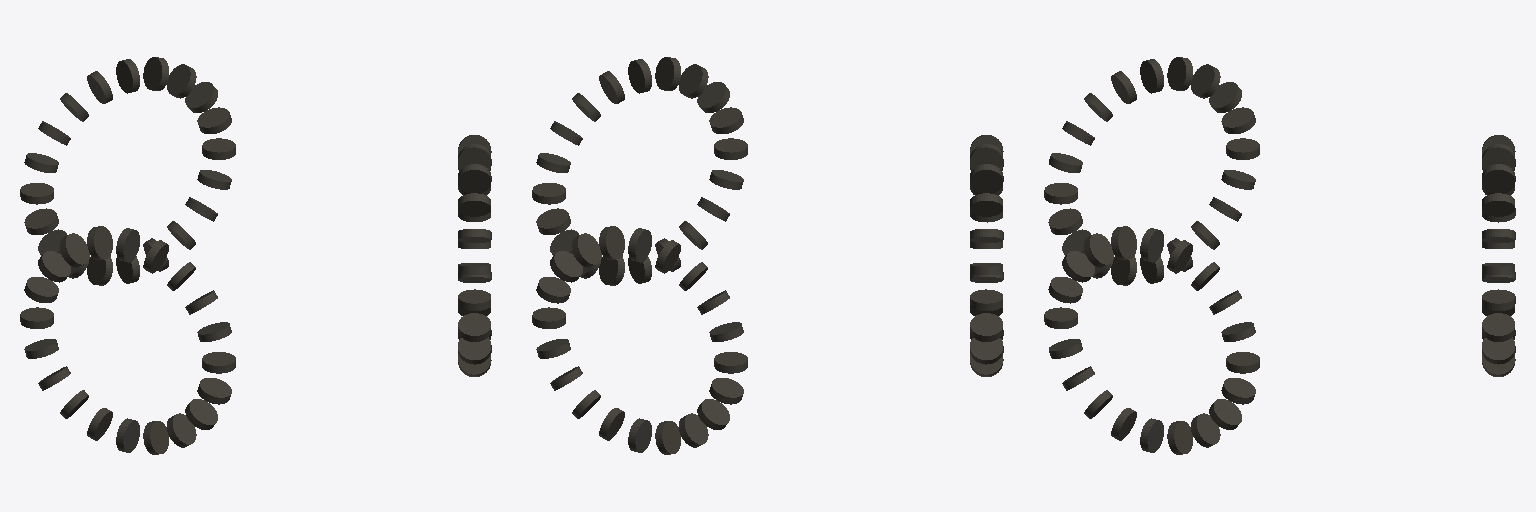
--- Render facts (derived) ---
Views: 3 orthographic renders of the robot side by side, from view 1: azimuth 30°, elevation 25°; view 2: azimuth 150°, elevation 25°; view 3: azimuth 270°, elevation 25°.
Model onshape with 65 links and 64 joints (63 revolute, 1 fixed), rooted at body, posed every joint at zero.
Links seen in each view (by area): view 1: passivewheel, passivewheel_16, passivewheel_24, passivewheel_50, passivewheel_35, passivewheel_34, passivewheel_25, passivewheel_49, passivewheel_23, passivewheel_51, passivewheel_33, passivewheel_36 (+18 smaller); view 2: passivewheel_23, passivewheel_28, passivewheel_20, passivewheel_50, passivewheel_59, passivewheel_60, passivewheel_49, passivewheel_19, passivewheel, passivewheel_51, passivewheel_41, passivewheel_8 (+18 smaller); view 3: passivewheel_51, passivewheel_46, passivewheel_20, passivewheel_24, passivewheel_9, passivewheel_10, passivewheel_19, passivewheel_25, passivewheel, passivewheel_23, passivewheel_11, passivewheel_8 (+18 smaller).
Link boxes in pixels (x1=…): passivewheel: x1=458, y1=164, x2=491, y2=193; passivewheel_16: x1=458, y1=313, x2=490, y2=341; passivewheel_24: x1=60, y1=233, x2=89, y2=267; passivewheel_50: x1=167, y1=64, x2=196, y2=98; passivewheel_35: x1=185, y1=399, x2=217, y2=429; passivewheel_34: x1=167, y1=413, x2=196, y2=447; passivewheel_25: x1=38, y1=251, x2=70, y2=282; passivewheel_49: x1=185, y1=82, x2=217, y2=112; passivewheel_23: x1=87, y1=226, x2=112, y2=259; passivewheel_51: x1=143, y1=57, x2=168, y2=90; passivewheel_33: x1=143, y1=421, x2=168, y2=454; passivewheel_36: x1=197, y1=378, x2=231, y2=404; passivewheel_23: x1=970, y1=164, x2=1003, y2=193; passivewheel_28: x1=970, y1=313, x2=1002, y2=341; passivewheel_20: x1=679, y1=64, x2=708, y2=98; passivewheel_50: x1=572, y1=233, x2=601, y2=267; passivewheel_59: x1=697, y1=399, x2=729, y2=429; passivewheel_60: x1=679, y1=413, x2=708, y2=447; passivewheel_49: x1=550, y1=251, x2=582, y2=282; passivewheel_19: x1=697, y1=82, x2=729, y2=112; passivewheel: x1=655, y1=57, x2=680, y2=90; passivewheel_51: x1=599, y1=226, x2=624, y2=259; passivewheel_41: x1=655, y1=421, x2=680, y2=454; passivewheel_8: x1=536, y1=208, x2=570, y2=234; passivewheel_51: x1=1482, y1=164, x2=1515, y2=193; passivewheel_46: x1=1482, y1=313, x2=1514, y2=341; passivewheel_20: x1=1084, y1=233, x2=1113, y2=267; passivewheel_24: x1=1191, y1=64, x2=1220, y2=98; passivewheel_9: x1=1209, y1=399, x2=1241, y2=429; passivewheel_10: x1=1191, y1=413, x2=1220, y2=447; passivewheel_19: x1=1062, y1=251, x2=1094, y2=282; passivewheel_25: x1=1209, y1=82, x2=1241, y2=112; passivewheel: x1=1111, y1=226, x2=1136, y2=259; passivewheel_23: x1=1167, y1=57, x2=1192, y2=90; passivewheel_11: x1=1167, y1=421, x2=1192, y2=454; passivewheel_8: x1=1221, y1=378, x2=1255, y2=404.
Size in the robot's own frame: 0.1924 by 0.1682 by 0.087 metres.
Geometry: only primitive shapes (box / cylinder / sphere) drawn; not drawn: 8 mesh visuals (reference in a form the renderer does not follow).

robot.urdf — onshape:
<robot name="onshape">
<link name="body">
<collision>
<origin xyz="-1.7347234759768070944e-18 -6.9388939039072283776e-18 2.6020852139652106416e-18" rpy="0 -0 2.0943951023931957067" />
<geometry>
<mesh filename="package:///motor.stl"/>
</geometry>
</collision>
<visual>
<origin xyz="-1.7347234759768070944e-18 -6.9388939039072283776e-18 2.6020852139652106416e-18" rpy="0 -0 2.0943951023931957067" />
<geometry>
<mesh filename="package:///motor.stl"/>
</geometry>
<material name="motor_material">
<color rgba="0.64705882352941179736 0.64705882352941179736 0.64705882352941179736 1.0"/>
</material>
</visual>
<collision>
<origin xyz="0 6.9388939039072283776e-18 0" rpy="0 -0 -2.0943951023931952626" />
<geometry>
<mesh filename="package:///motor.stl"/>
</geometry>
</collision>
<visual>
<origin xyz="0 6.9388939039072283776e-18 0" rpy="0 -0 -2.0943951023931952626" />
<geometry>
<mesh filename="package:///motor.stl"/>
</geometry>
<material name="motor_material">
<color rgba="0.64705882352941179736 0.64705882352941179736 0.64705882352941179736 1.0"/>
</material>
</visual>
<collision>
<origin xyz="0 0 0" rpy="0 -0 0" />
<geometry>
<mesh filename="package:///motor.stl"/>
</geometry>
</collision>
<visual>
<origin xyz="0 0 0" rpy="0 -0 0" />
<geometry>
<mesh filename="package:///motor.stl"/>
</geometry>
<material name="motor_material">
<color rgba="0.64705882352941179736 0.64705882352941179736 0.64705882352941179736 1.0"/>
</material>
</visual>
<collision>
<origin xyz="0 0 0" rpy="0 -0 0" />
<geometry>
<mesh filename="package:///plate.stl"/>
</geometry>
</collision>
<visual>
<origin xyz="0 0 0" rpy="0 -0 0" />
<geometry>
<mesh filename="package:///plate.stl"/>
</geometry>
<material name="plate_material">
<color rgba="0.68235294117647060652 0.33333333333333331483 0.73725490196078435901 1.0"/>
</material>
</visual>
<collision>
<origin xyz="0 0 0.022999999999999999611" rpy="0 -0 0" />
<geometry>
<mesh filename="package:///plate.stl"/>
</geometry>
</collision>
<visual>
<origin xyz="0 0 0.022999999999999999611" rpy="0 -0 0" />
<geometry>
<mesh filename="package:///plate.stl"/>
</geometry>
<material name="plate_material">
<color rgba="0.68235294117647060652 0.33333333333333331483 0.73725490196078435901 1.0"/>
</material>
</visual>
<inertial>
<origin xyz="0.00041313742631781947808 0.00023852500429690035727 0.0129603621972746684" rpy="0 0 0"/>
<mass value="0.55184045573988327327" />
<inertia ixx="0.00061573183967726478893" ixy="-4.5433878869427543235e-06"  ixz="-9.0368619367301650838e-09" iyy="0.00062097809211638342608" iyz="-5.2174346717752650079e-09" izz="0.0011894065910678657157" />
</inertial>
</link>

<link name="base">
<inertial>
<origin xyz="0 0 0" rpy="0 0 0" />
<mass value="1e-9" />
<inertia ixx="0" ixy="0" ixz="0" iyy="0" iyz="0" izz="0" />
</inertial>
</link>
<joint name="body_frame" type="fixed">
<origin xyz="0.0041869852016127150768 0.002417357033244084321 0.014499999999999997266" rpy="0 -0 0.52359877559829937077" />
<parent link="body" />
<child link="base" />
<axis xyz="0 0 0"/>
</joint>

<link name="wheel">
<collision>
<origin xyz="-1.0820518625265934609e-17 0.013000000000000001138 0.075000000000000011102" rpy="1.570796326794896558 1.0471975511965980754 0" />
<geometry>
<mesh filename="package:///wheel.stl"/>
</geometry>
</collision>
<visual>
<origin xyz="-1.0820518625265934609e-17 0.013000000000000001138 0.075000000000000011102" rpy="1.570796326794896558 1.0471975511965980754 0" />
<geometry>
<mesh filename="package:///wheel.stl"/>
</geometry>
<material name="wheel_material">
<color rgba="0.94117647058823528106 0.87450980392156862919 0.67843137254901964006 1.0"/>
</material>
</visual>
<inertial>
<origin xyz="-9.2850727106963404367e-11 -1.4381200032914653875e-09 -0.0025000000554400020336" rpy="0 0 0"/>
<mass value="0.01924908488748922411" />
<inertia ixx="6.8765144932724304568e-06" ixy="4.74141453805302909e-13"  ixz="-1.4288918118653907291e-14" iyy="6.8765142522306696936e-06" iyz="2.2762036673241546206e-14" izz="1.3673643547259725222e-05" />
</inertial>
</link>

<link name="passivewheel">
<!-- Shapes for passivewheel -->
<collision>
<origin xyz="-9.7144514654701199309e-20 1.3877787807814456755e-17 0.0019999999999999939701" rpy="3.141592653589793116 -2.7755575615628913511e-17 -2.7755575615628913511e-17" />
<geometry>
<cylinder length="0.0030000000000000000625" radius="0.0060000000000000001249" />
</geometry>
</collision>
<!-- Shapes for passivewheel -->
<visual>
<origin xyz="-9.7144514654701199309e-20 1.3877787807814456755e-17 0.0019999999999999939701" rpy="3.141592653589793116 -2.7755575615628913511e-17 -2.7755575615628913511e-17" />
<geometry>
<cylinder length="0.0030000000000000000625" radius="0.0060000000000000001249" />
</geometry>
<material name="passivewheel_material">
<color rgba="0.30196078431372547213 0.29019607843137257275 0.26274509803921569651 1.0"/>
</material>
</visual>
<inertial>
<origin xyz="-8.4000511047209577878e-20 1.3489002723506598987e-17 0.0019999999999999935364" rpy="0 0 0"/>
<mass value="0.0028590609658248017193" />
<inertia ixx="2.7747274432609138953e-08" ixy="-5.3024232598138370053e-71"  ixz="3.1490841707672236165e-24" iyy="2.7747274432609138953e-08" iyz="-2.1375722681956916097e-41" izz="4.8977394258054644615e-08" />
</inertial>
</link>

<joint name="w1_1_passive" type="revolute">
<origin xyz="-0.013490250321650828005 -0.035046585372318354856 -0.0025000000000000160982" rpy="1.570796326794896558 1.3942429024899487544 1.2566370614359179125" />
<parent link="wheel" />
<child link="passivewheel" />
<axis xyz="0 0 1"/>
<limit effort="1" velocity="20" />
<joint_properties friction="0.0"/>
</joint>

<link name="passivewheel_2">
<!-- Shapes for passivewheel -->
<collision>
<origin xyz="-1.3877787807814456755e-17 0 -0.0020000000000000026437" rpy="3.141592653589793116 5.5511151231257913303e-17 7.3955709864469856757e-32" />
<geometry>
<cylinder length="0.0030000000000000000625" radius="0.0060000000000000001249" />
</geometry>
</collision>
<!-- Shapes for passivewheel -->
<visual>
<origin xyz="-1.3877787807814456755e-17 0 -0.0020000000000000026437" rpy="3.141592653589793116 5.5511151231257913303e-17 7.3955709864469856757e-32" />
<geometry>
<cylinder length="0.0030000000000000000625" radius="0.0060000000000000001249" />
</geometry>
<material name="passivewheel_material">
<color rgba="0.30196078431372547213 0.29019607843137257275 0.26274509803921569651 1.0"/>
</material>
</visual>
<inertial>
<origin xyz="-1.3864643804206964592e-17 -3.8878508430785584243e-19 -0.0020000000000000030774" rpy="0 0 0"/>
<mass value="0.0028590609658248017193" />
<inertia ixx="2.7747274432609138953e-08" ixy="2.7360925032904852604e-39"  ixz="-1.5402831472837860559e-24" iyy="2.7747274432609138953e-08" iyz="-1.1391273354965187936e-55" izz="4.8977394258054644615e-08" />
</inertial>
</link>

<joint name="w1_2_passive" type="revolute">
<origin xyz="-0.0020000000000000039448 -0.037499999999999991673 -0.0025000000000000160982" rpy="3.1415926535897926719 1.570796326794896336 0" />
<parent link="wheel" />
<child link="passivewheel_2" />
<axis xyz="0 0 1"/>
<limit effort="1" velocity="20" />
<joint_properties friction="0.0"/>
</joint>

<link name="passivewheel_3">
<!-- Shapes for passivewheel -->
<collision>
<origin xyz="1.3877787807814456755e-17 0 0.0019999999999999931027" rpy="0 -1.3877787807814456755e-17 0" />
<geometry>
<cylinder length="0.0030000000000000000625" radius="0.0060000000000000001249" />
</geometry>
</collision>
<!-- Shapes for passivewheel -->
<visual>
<origin xyz="1.3877787807814456755e-17 0 0.0019999999999999931027" rpy="0 -1.3877787807814456755e-17 0" />
<geometry>
<cylinder length="0.0030000000000000000625" radius="0.0060000000000000001249" />
</geometry>
<material name="passivewheel_material">
<color rgba="0.30196078431372547213 0.29019607843137257275 0.26274509803921569651 1.0"/>
</material>
</visual>
<inertial>
<origin xyz="1.3890931811421947378e-17 3.8878508430785598687e-19 0.0019999999999999935364" rpy="0 0 0"/>
<mass value="0.0028590609658248017193" />
<inertia ixx="2.7747274432609138953e-08" ixy="-7.7014157364188999738e-25"  ixz="3.8507078682094490686e-25" iyy="2.7747274432609152187e-08" iyz="0" izz="4.8977394258054644615e-08" />
</inertial>
</link>

<joint name="w1_3_passive" type="revolute">
<origin xyz="0.009686024256470226676 -0.036282653349818151656 -0.0025000000000000022204" rpy="-1.5707963267948970021 1.3942429024899487544 -1.2566370614359163582" />
<parent link="wheel" />
<child link="passivewheel_3" />
<axis xyz="0 0 1"/>
<limit effort="1" velocity="20" />
<joint_properties friction="0.0"/>
</joint>

<link name="passivewheel_4">
<!-- Shapes for passivewheel -->
<collision>
<origin xyz="-1.3988810110276972508e-17 3.4694469519536141888e-18 -0.0020000000000000017764" rpy="3.141592653589793116 -0 2.7755575615628919674e-17" />
<geometry>
<cylinder length="0.0030000000000000000625" radius="0.0060000000000000001249" />
</geometry>
</collision>
<!-- Shapes for passivewheel -->
<visual>
<origin xyz="-1.3988810110276972508e-17 3.4694469519536141888e-18 -0.0020000000000000017764" rpy="3.141592653589793116 -0 2.7755575615628919674e-17" />
<geometry>
<cylinder length="0.0030000000000000000625" radius="0.0060000000000000001249" />
</geometry>
<material name="passivewheel_material">
<color rgba="0.30196078431372547213 0.29019607843137257275 0.26274509803921569651 1.0"/>
</material>
</visual>
<inertial>
<origin xyz="-1.3975666106669481886e-17 3.0806618676457579612e-18 -0.00200000000000000221" rpy="0 0 0"/>
<mass value="0.0028590609658248017193" />
<inertia ixx="2.7747274432609125718e-08" ixy="1.5402831472837796274e-24"  ixz="2.7187915395718101128e-24" iyy="2.7747274432609152187e-08" iyz="-1.5402831472837799948e-24" izz="4.8977394258054644615e-08" />
</inertial>
</link>

<joint name="w1_4_passive" type="revolute">
<origin xyz="0.020423912972217832945 -0.031513707793645477639 -0.0025000000000000022204" rpy="1.5707963267948961139 1.2436334312925148016 -0.94247779607693760173" />
<parent link="wheel" />
<child link="passivewheel_4" />
<axis xyz="0 0 1"/>
<limit effort="1" velocity="20" />
<joint_properties friction="0.0"/>
</joint>

<link name="passivewheel_5">
<!-- Shapes for passivewheel -->
<collision>
<origin xyz="-1.3711254354120683126e-17 2.6020852139652106416e-18 -0.001999999999999999608" rpy="3.141592653589793116 -0 0" />
<geometry>
<cylinder length="0.0030000000000000000625" radius="0.0060000000000000001249" />
</geometry>
</collision>
<!-- Shapes for passivewheel -->
<visual>
<origin xyz="-1.3711254354120683126e-17 2.6020852139652106416e-18 -0.001999999999999999608" rpy="3.141592653589793116 -0 0" />
<geometry>
<cylinder length="0.0030000000000000000625" radius="0.0060000000000000001249" />
</geometry>
<material name="passivewheel_material">
<color rgba="0.30196078431372547213 0.29019607843137257275 0.26274509803921569651 1.0"/>
</material>
</visual>
<inertial>
<origin xyz="-1.3698110350513190963e-17 2.2133001296573547992e-18 -0.0020000000000000000416" rpy="0 0 0"/>
<mass value="0.0028590609658248017193" />
<inertia ixx="2.7747274432609152187e-08" ixy="7.7014157364188981371e-25"  ixz="-4.0781873093577142508e-24" iyy="2.7747274432609138953e-08" iyz="0" izz="4.8977394258054618145e-08" />
</inertial>
</link>

<joint name="w1_5_passive" type="revolute">
<origin xyz="0.029162566784475572185 -0.023659980949717641929 -0.0025000000000000022204" rpy="1.5707963267948961139 1.1338247319171002037 -0.62831853071795851218" />
<parent link="wheel" />
<child link="passivewheel_5" />
<axis xyz="0 0 1"/>
<limit effort="1" velocity="20" />
<joint_properties friction="0.0"/>
</joint>

<link name="passivewheel_6">
<!-- Shapes for passivewheel -->
<collision>
<origin xyz="0 -8.6736173798840354721e-19 -0.0019999999999999978732" rpy="3.141592653589793116 -0 0" />
<geometry>
<cylinder length="0.0030000000000000000625" radius="0.0060000000000000001249" />
</geometry>
</collision>
<!-- Shapes for passivewheel -->
<visual>
<origin xyz="0 -8.6736173798840354721e-19 -0.0019999999999999978732" rpy="3.141592653589793116 -0 0" />
<geometry>
<cylinder length="0.0030000000000000000625" radius="0.0060000000000000001249" />
</geometry>
<material name="passivewheel_material">
<color rgba="0.30196078431372547213 0.29019607843137257275 0.26274509803921569651 1.0"/>
</material>
</visual>
<inertial>
<origin xyz="1.3144003607491675598e-20 -1.2561468222962595822e-18 -0.0019999999999999983069" rpy="0 0 0"/>
<mass value="0.0028590609658248017193" />
<inertia ixx="2.7747274432609138953e-08" ixy="0"  ixz="0" iyy="2.7747274432609132335e-08" iyz="0" izz="4.897739425805463138e-08" />
</inertial>
</link>

<joint name="w1_6_passive" type="revolute">
<origin xyz="0.035046585372318361795 -0.013490250321650838414 -0.0025000000000000160982" rpy="1.5707963267948958919 1.068649938797565202 -0.31415926535897914507" />
<parent link="wheel" />
<child link="passivewheel_6" />
<axis xyz="0 0 1"/>
<limit effort="1" velocity="20" />
<joint_properties friction="0.0"/>
</joint>

<link name="passivewheel_7">
<!-- Shapes for passivewheel -->
<collision>
<origin xyz="-1.9721522630525295546e-34 -1.7347234759768070944e-18 -0.0020000000000000000416" rpy="-3.9443045261050590271e-31 -9.8607613152626475676e-32 -2.4651903288145233369e-32" />
<geometry>
<cylinder length="0.0030000000000000000625" radius="0.0060000000000000001249" />
</geometry>
</collision>
<!-- Shapes for passivewheel -->
<visual>
<origin xyz="-1.9721522630525295546e-34 -1.7347234759768070944e-18 -0.0020000000000000000416" rpy="-3.9443045261050590271e-31 -9.8607613152626475676e-32 -2.4651903288145233369e-32" />
<geometry>
<cylinder length="0.0030000000000000000625" radius="0.0060000000000000001249" />
</geometry>
<material name="passivewheel_material">
<color rgba="0.30196078431372547213 0.29019607843137257275 0.26274509803921569651 1.0"/>
</material>
</visual>
<inertial>
<origin xyz="1.3144003607491478492e-20 -1.345938391668951252e-18 -0.001999999999999999608" rpy="0 0 0"/>
<mass value="0.0028590609658248017193" />
<inertia ixx="2.7747274432609138953e-08" ixy="1.1858925207528818512e-51"  ixz="-2.0934514429314363421e-39" iyy="2.7747274432609138953e-08" iyz="-1.0944370013161941042e-38" izz="4.8977394258054644615e-08" />
</inertial>
</link>

<joint name="w1_7_passive" type="revolute">
<origin xyz="0.03750000000000001249 -0.0020000000000000035111 -0.002500000000000029976" rpy="1.5707963267948961139 1.0471975511965985195 -1.3322676295501712824e-15" />
<parent link="wheel" />
<child link="passivewheel_7" />
<axis xyz="0 0 1"/>
<limit effort="1" velocity="20" />
<joint_properties friction="0.0"/>
</joint>

<link name="passivewheel_8">
<!-- Shapes for passivewheel -->
<collision>
<origin xyz="-1.3933298959045714632e-17 0 0.0019999999999999983069" rpy="3.141592653589793116 -0 6.9388939039072299184e-18" />
<geometry>
<cylinder length="0.0030000000000000000625" radius="0.0060000000000000001249" />
</geometry>
</collision>
<!-- Shapes for passivewheel -->
<visual>
<origin xyz="-1.3933298959045714632e-17 0 0.0019999999999999983069" rpy="3.141592653589793116 -0 6.9388939039072299184e-18" />
<geometry>
<cylinder length="0.0030000000000000000625" radius="0.0060000000000000001249" />
</geometry>
<material name="passivewheel_material">
<color rgba="0.30196078431372547213 0.29019607843137257275 0.26274509803921569651 1.0"/>
</material>
</visual>
<inertial>
<origin xyz="-1.3920154955438224009e-17 -3.8878508430785584243e-19 0.0019999999999999978732" rpy="0 0 0"/>
<mass value="0.0028590609658248017193" />
<inertia ixx="2.7747274432609132335e-08" ixy="1.9253539341047243047e-25"  ixz="1.3593957697859050564e-24" iyy="2.7747274432609138953e-08" iyz="0" izz="4.8977394258054644615e-08" />
</inertial>
</link>

<joint name="w1_8_passive" type="revolute">
<origin xyz="0.036282653349818151656 0.0096860242564702162676 -0.0025000000000000160982" rpy="-1.5707963267948972241 1.0686499387975658681 0.31415926535897825689" />
<parent link="wheel" />
<child link="passivewheel_8" />
<axis xyz="0 0 1"/>
<limit effort="1" velocity="20" />
<joint_properties friction="0.0"/>
</joint>

<link name="passivewheel_9">
<!-- Shapes for passivewheel -->
<collision>
<origin xyz="-5.5511151231257828177e-20 -2.2204460492503131271e-19 -0.0020000000000000035111" rpy="0 8.3266726846886740532e-17 0" />
<geometry>
<cylinder length="0.0030000000000000000625" radius="0.0060000000000000001249" />
</geometry>
</collision>
<!-- Shapes for passivewheel -->
<visual>
<origin xyz="-5.5511151231257828177e-20 -2.2204460492503131271e-19 -0.0020000000000000035111" rpy="0 8.3266726846886740532e-17 0" />
<geometry>
<cylinder length="0.0030000000000000000625" radius="0.0060000000000000001249" />
</geometry>
<material name="passivewheel_material">
<color rgba="0.30196078431372547213 0.29019607843137257275 0.26274509803921569651 1.0"/>
</material>
</visual>
<inertial>
<origin xyz="-4.2367147623766152578e-20 1.6674047938282448157e-19 -0.0020000000000000030774" rpy="0 0 0"/>
<mass value="0.0028590609658248017193" />
<inertia ixx="2.7747274432609138953e-08" ixy="7.7014157364188999738e-25"  ixz="-3.6698204907115746812e-24" iyy="2.7747274432609138953e-08" iyz="-5.4375830791436202255e-24" izz="4.8977394258054644615e-08" />
</inertial>
</link>

<joint name="w1_9_passive" type="revolute">
<origin xyz="0.031513707793645484578 0.020423912972217836415 -0.002500000000000029976" rpy="1.5707963267948958919 1.1338247319171008698 0.62831853071795773502" />
<parent link="wheel" />
<child link="passivewheel_9" />
<axis xyz="0 0 1"/>
<limit effort="1" velocity="20" />
<joint_properties friction="0.0"/>
</joint>

<link name="passivewheel_10">
<!-- Shapes for passivewheel -->
<collision>
<origin xyz="2.7533531010703882005e-17 2.8215277336762768377e-18 -0.0019999999999999978732" rpy="-3.141592653589793116 2.7755575615628907348e-17 0" />
<geometry>
<cylinder length="0.0030000000000000000625" radius="0.0060000000000000001249" />
</geometry>
</collision>
<!-- Shapes for passivewheel -->
<visual>
<origin xyz="2.7533531010703882005e-17 2.8215277336762768377e-18 -0.0019999999999999978732" rpy="-3.141592653589793116 2.7755575615628907348e-17 0" />
<geometry>
<cylinder length="0.0030000000000000000625" radius="0.0060000000000000001249" />
</geometry>
<material name="passivewheel_material">
<color rgba="0.30196078431372547213 0.29019607843137257275 0.26274509803921569651 1.0"/>
</material>
</visual>
<inertial>
<origin xyz="2.7546675014311369546e-17 2.4327426493684213804e-18 -0.0019999999999999983069" rpy="0 0 0"/>
<mass value="0.0028590609658248017193" />
<inertia ixx="2.7747274432609152187e-08" ixy="-7.7014157364189008922e-25"  ixz="4.6674415055017296771e-24" iyy="2.7747274432609138953e-08" iyz="-1.178508392288030118e-24" izz="4.897739425805463138e-08" />
</inertial>
</link>

<joint name="w1_10_passive" type="revolute">
<origin xyz="0.023659980949717641929 0.029162566784475561776 -0.0025000000000000022204" rpy="1.57079632679489678 1.2436334312925150236 0.94247779607693804582" />
<parent link="wheel" />
<child link="passivewheel_10" />
<axis xyz="0 0 1"/>
<limit effort="1" velocity="20" />
<joint_properties friction="0.0"/>
</joint>

<link name="passivewheel_11">
<!-- Shapes for passivewheel -->
<collision>
<origin xyz="1.3877787807814457044e-20 3.4694469519536141888e-18 -0.0019999999999999939701" rpy="3.141592653589793116 -3.4694469519536141888e-17 2.7755575615628913511e-17" />
<geometry>
<cylinder length="0.0030000000000000000625" radius="0.0060000000000000001249" />
</geometry>
</collision>
<!-- Shapes for passivewheel -->
<visual>
<origin xyz="1.3877787807814457044e-20 3.4694469519536141888e-18 -0.0019999999999999939701" rpy="3.141592653589793116 -3.4694469519536141888e-17 2.7755575615628913511e-17" />
<geometry>
<cylinder length="0.0030000000000000000625" radius="0.0060000000000000001249" />
</geometry>
<material name="passivewheel_material">
<color rgba="0.30196078431372547213 0.29019607843137257275 0.26274509803921569651 1.0"/>
</material>
</visual>
<inertial>
<origin xyz="2.7021791415306135652e-20 3.0806618676457579612e-18 -0.0019999999999999944038" rpy="0 0 0"/>
<mass value="0.0028590609658248017193" />
<inertia ixx="2.7747274432609138953e-08" ixy="7.7014157364188981371e-25"  ixz="6.2282802460588595713e-25" iyy="2.7747274432609138953e-08" iyz="2.6719653352446145121e-41" izz="4.8977394258054644615e-08" />
</inertial>
</link>

<joint name="w1_11_passive" type="revolute">
<origin xyz="0.013490250321650848822 0.035046585372318347917 -0.0025000000000000022204" rpy="1.5707963267948972241 1.3942429024899489765 1.2566370614359181346" />
<parent link="wheel" />
<child link="passivewheel_11" />
<axis xyz="0 0 1"/>
<limit effort="1" velocity="20" />
<joint_properties friction="0.0"/>
</joint>

<link name="passivewheel_12">
<!-- Shapes for passivewheel -->
<collision>
<origin xyz="2.7533531010703882005e-17 4.9303806576313238865e-35 -0.0020000000000000013427" rpy="-3.141592653589793116 2.6810927945557190439e-33 -6.1629758220391547298e-33" />
<geometry>
<cylinder length="0.0030000000000000000625" radius="0.0060000000000000001249" />
</geometry>
</collision>
<!-- Shapes for passivewheel -->
<visual>
<origin xyz="2.7533531010703882005e-17 4.9303806576313238865e-35 -0.0020000000000000013427" rpy="-3.141592653589793116 2.6810927945557190439e-33 -6.1629758220391547298e-33" />
<geometry>
<cylinder length="0.0030000000000000000625" radius="0.0060000000000000001249" />
</geometry>
<material name="passivewheel_material">
<color rgba="0.30196078431372547213 0.29019607843137257275 0.26274509803921569651 1.0"/>
</material>
</visual>
<inertial>
<origin xyz="2.7546675014311369546e-17 -3.8878508430785574613e-19 -0.0020000000000000017764" rpy="0 0 0"/>
<mass value="0.0028590609658248017193" />
<inertia ixx="2.7747274432609138953e-08" ixy="-1.7100578145565547151e-40"  ixz="5.4375830791436187561e-24" iyy="2.7747274432609138953e-08" iyz="-8.6537442364416957994e-40" izz="4.897739425805463138e-08" />
</inertial>
</link>

<joint name="w1_12_passive" type="revolute">
<origin xyz="0.0020000000000000204246 0.037499999999999991673 -0.0025000000000000160982" rpy="1.4808442108026812057e-16 1.570796326794896558 0" />
<parent link="wheel" />
<child link="passivewheel_12" />
<axis xyz="0 0 1"/>
<limit effort="1" velocity="20" />
<joint_properties friction="0.0"/>
</joint>

<link name="passivewheel_13">
<!-- Shapes for passivewheel -->
<collision>
<origin xyz="4.1633363423443371133e-20 0 -0.0020000000000000030774" rpy="3.141592653589793116 8.3266726846886740532e-17 2.7755575615628913511e-17" />
<geometry>
<cylinder length="0.0030000000000000000625" radius="0.0060000000000000001249" />
</geometry>
</collision>
<!-- Shapes for passivewheel -->
<visual>
<origin xyz="4.1633363423443371133e-20 0 -0.0020000000000000030774" rpy="3.141592653589793116 8.3266726846886740532e-17 2.7755575615628913511e-17" />
<geometry>
<cylinder length="0.0030000000000000000625" radius="0.0060000000000000001249" />
</geometry>
<material name="passivewheel_material">
<color rgba="0.30196078431372547213 0.29019607843137257275 0.26274509803921569651 1.0"/>
</material>
</visual>
<inertial>
<origin xyz="5.4777367030935064787e-20 -3.8878508430785584243e-19 -0.0020000000000000035111" rpy="0 0 0"/>
<mass value="0.0028590609658248017193" />
<inertia ixx="2.7747274432609138953e-08" ixy="7.7014157364188981371e-25"  ixz="-3.3299715482650983712e-24" iyy="2.7747274432609138953e-08" iyz="-6.412716804587074829e-41" izz="4.8977394258054644615e-08" />
</inertial>
</link>

<joint name="w1_13_passive" type="revolute">
<origin xyz="-0.0096860242564702023899 0.036282653349818144717 -0.0025000000000000160982" rpy="-1.5707963267948970021 1.3942429024899489765 -1.2566370614359185787" />
<parent link="wheel" />
<child link="passivewheel_13" />
<axis xyz="0 0 1"/>
<limit effort="1" velocity="20" />
<joint_properties friction="0.0"/>
</joint>

<link name="passivewheel_14">
<!-- Shapes for passivewheel -->
<collision>
<origin xyz="5.5511151231257828177e-20 -6.7168492989821968723e-18 -0.0020000000000000074142" rpy="5.5511151231257839347e-17 1.3877787807814456755e-16 2.7755575615628913511e-17" />
<geometry>
<cylinder length="0.0030000000000000000625" radius="0.0060000000000000001249" />
</geometry>
</collision>
<!-- Shapes for passivewheel -->
<visual>
<origin xyz="5.5511151231257828177e-20 -6.7168492989821968723e-18 -0.0020000000000000074142" rpy="5.5511151231257839347e-17 1.3877787807814456755e-16 2.7755575615628913511e-17" />
<geometry>
<cylinder length="0.0030000000000000000625" radius="0.0060000000000000001249" />
</geometry>
<material name="passivewheel_material">
<color rgba="0.30196078431372547213 0.29019607843137257275 0.26274509803921569651 1.0"/>
</material>
</visual>
<inertial>
<origin xyz="6.8655154838749521831e-20 -6.3280642146743406447e-18 -0.0020000000000000069805" rpy="0 0 0"/>
<mass value="0.0028590609658248017193" />
<inertia ixx="2.7747274432609138953e-08" ixy="1.5402831472837798111e-24"  ixz="-2.4913120984235441959e-24" iyy="2.7747274432609138953e-08" iyz="6.9778662264273991182e-24" izz="4.897739425805463138e-08" />
</inertial>
</link>

<joint name="w1_14_passive" type="revolute">
<origin xyz="-0.020423912972217815598 0.031513707793645470701 -0.0025000000000000160982" rpy="-1.5707963267948970021 1.2436334312925148016 -0.94247779607693882298" />
<parent link="wheel" />
<child link="passivewheel_14" />
<axis xyz="0 0 1"/>
<limit effort="1" velocity="20" />
<joint_properties friction="0.0"/>
</joint>

<link name="passivewheel_15">
<!-- Shapes for passivewheel -->
<collision>
<origin xyz="5.5511151231257828177e-20 0 -0.0020000000000000004753" rpy="5.5511151231257839347e-17 -0 0" />
<geometry>
<cylinder length="0.0030000000000000000625" radius="0.0060000000000000001249" />
</geometry>
</collision>
<!-- Shapes for passivewheel -->
<visual>
<origin xyz="5.5511151231257828177e-20 0 -0.0020000000000000004753" rpy="5.5511151231257839347e-17 -0 0" />
<geometry>
<cylinder length="0.0030000000000000000625" radius="0.0060000000000000001249" />
</geometry>
<material name="passivewheel_material">
<color rgba="0.30196078431372547213 0.29019607843137257275 0.26274509803921569651 1.0"/>
</material>
</visual>
<inertial>
<origin xyz="6.8655154838749533868e-20 3.8878508430785584243e-19 -0.0020000000000000000416" rpy="0 0 0"/>
<mass value="0.0028590609658248017193" />
<inertia ixx="2.7747274432609152187e-08" ixy="7.7014157364188981371e-25"  ixz="1.3593957697859048727e-24" iyy="2.7747274432609138953e-08" iyz="1.5402831472837796274e-24" izz="4.897739425805463138e-08" />
</inertial>
</link>

<joint name="w1_15_passive" type="revolute">
<origin xyz="-0.029162566784475561776 0.023659980949717641929 -0.0025000000000000160982" rpy="-1.570796326794896558 1.1338247319171002037 -0.62831853071795873422" />
<parent link="wheel" />
<child link="passivewheel_15" />
<axis xyz="0 0 1"/>
<limit effort="1" velocity="20" />
<joint_properties friction="0.0"/>
</joint>

<link name="passivewheel_16">
<!-- Shapes for passivewheel -->
<collision>
<origin xyz="6.9388939039072283776e-18 -1.365574320288942525e-17 -0.0020000000000000017764" rpy="0 2.7755575615628913511e-17 -6.9388939039072283776e-18" />
<geometry>
<cylinder length="0.0030000000000000000625" radius="0.0060000000000000001249" />
</geometry>
</collision>
<!-- Shapes for passivewheel -->
<visual>
<origin xyz="6.9388939039072283776e-18 -1.365574320288942525e-17 -0.0020000000000000017764" rpy="0 2.7755575615628913511e-17 -6.9388939039072283776e-18" />
<geometry>
<cylinder length="0.0030000000000000000625" radius="0.0060000000000000001249" />
</geometry>
<material name="passivewheel_material">
<color rgba="0.30196078431372547213 0.29019607843137257275 0.26274509803921569651 1.0"/>
</material>
</visual>
<inertial>
<origin xyz="6.9520379075147205407e-18 -1.3266958118581567482e-17 -0.0020000000000000013427" rpy="0 0 0"/>
<mass value="0.0028590609658248017193" />
<inertia ixx="2.7747274432609138953e-08" ixy="-1.9253539341047245343e-25"  ixz="-7.7014157364188981371e-25" iyy="2.7747274432609132335e-08" iyz="5.4375830791436202255e-24" izz="4.8977394258054644615e-08" />
</inertial>
</link>

<joint name="w1_16_passive" type="revolute">
<origin xyz="-0.035046585372318347917 0.013490250321650843618 -0.0025000000000000160982" rpy="-1.57079632679489678 1.068649938797565202 -0.31415926535897920058" />
<parent link="wheel" />
<child link="passivewheel_16" />
<axis xyz="0 0 1"/>
<limit effort="1" velocity="20" />
<joint_properties friction="0.0"/>
</joint>

<link name="passivewheel_17">
<!-- Shapes for passivewheel -->
<collision>
<origin xyz="0 1.3877787807814456755e-17 0.0020000000000000000416" rpy="-3.141592653589793116 -0 -4.622231866529037618e-33" />
<geometry>
<cylinder length="0.0030000000000000000625" radius="0.0060000000000000001249" />
</geometry>
</collision>
<!-- Shapes for passivewheel -->
<visual>
<origin xyz="0 1.3877787807814456755e-17 0.0020000000000000000416" rpy="-3.141592653589793116 -0 -4.622231866529037618e-33" />
<geometry>
<cylinder length="0.0030000000000000000625" radius="0.0060000000000000001249" />
</geometry>
<material name="passivewheel_material">
<color rgba="0.30196078431372547213 0.29019607843137257275 0.26274509803921569651 1.0"/>
</material>
</visual>
<inertial>
<origin xyz="1.3144003607491675598e-20 1.3489002723506598987e-17 0.001999999999999999608" rpy="0 0 0"/>
<mass value="0.0028590609658248017193" />
<inertia ixx="2.7747274432609138953e-08" ixy="3.4201156291132949936e-40"  ixz="2.3185898923883018276e-71" iyy="2.7747274432609138953e-08" iyz="1.3680462516452426302e-39" izz="4.8977394258054644615e-08" />
</inertial>
</link>

<joint name="w1_17_passive" type="revolute">
<origin xyz="-0.037499999999999977796 0.00200000000000001045 -0.0025000000000000160982" rpy="1.570796326794896558 1.0471975511965980754 -1.1102230246251671407e-16" />
<parent link="wheel" />
<child link="passivewheel_17" />
<axis xyz="0 0 1"/>
<limit effort="1" velocity="20" />
<joint_properties friction="0.0"/>
</joint>

<link name="passivewheel_18">
<!-- Shapes for passivewheel -->
<collision>
<origin xyz="6.9388939039072283776e-18 0 -0.0019999999999999987406" rpy="3.141592653589793116 2.7755575615628919674e-17 0" />
<geometry>
<cylinder length="0.0030000000000000000625" radius="0.0060000000000000001249" />
</geometry>
</collision>
<!-- Shapes for passivewheel -->
<visual>
<origin xyz="6.9388939039072283776e-18 0 -0.0019999999999999987406" rpy="3.141592653589793116 2.7755575615628919674e-17 0" />
<geometry>
<cylinder length="0.0030000000000000000625" radius="0.0060000000000000001249" />
</geometry>
<material name="passivewheel_material">
<color rgba="0.30196078431372547213 0.29019607843137257275 0.26274509803921569651 1.0"/>
</material>
</visual>
<inertial>
<origin xyz="6.9520379075147205407e-18 -3.8878508430785574613e-19 -0.0019999999999999991743" rpy="0 0 0"/>
<mass value="0.0028590609658248017193" />
<inertia ixx="2.7747274432609132335e-08" ixy="0"  ixz="-7.7014157364188972188e-25" iyy="2.7747274432609132335e-08" iyz="0" izz="4.8977394258054671085e-08" />
</inertial>
</link>

<joint name="w1_18_passive" type="revolute">
<origin xyz="-0.036282653349818130839 -0.0096860242564702127982 -0.0024999999999999883427" rpy="-1.5707963267948938935 1.0686499387975656461 0.31415926535897814587" />
<parent link="wheel" />
<child link="passivewheel_18" />
<axis xyz="0 0 1"/>
<limit effort="1" velocity="20" />
<joint_properties friction="0.0"/>
</joint>

<link name="passivewheel_19">
<!-- Shapes for passivewheel -->
<collision>
<origin xyz="6.8833827526759705013e-18 -1.1102230246251565635e-19 -0.0019999999999999931027" rpy="-3.141592653589793116 -0 -2.7755575615628913511e-17" />
<geometry>
<cylinder length="0.0030000000000000000625" radius="0.0060000000000000001249" />
</geometry>
</collision>
<!-- Shapes for passivewheel -->
<visual>
<origin xyz="6.8833827526759705013e-18 -1.1102230246251565635e-19 -0.0019999999999999931027" rpy="-3.141592653589793116 -0 -2.7755575615628913511e-17" />
<geometry>
<cylinder length="0.0030000000000000000625" radius="0.0060000000000000001249" />
</geometry>
<material name="passivewheel_material">
<color rgba="0.30196078431372547213 0.29019607843137257275 0.26274509803921569651 1.0"/>
</material>
</visual>
<inertial>
<origin xyz="6.8965267562834626644e-18 -4.9980738677037159508e-19 -0.0019999999999999935364" rpy="0 0 0"/>
<mass value="0.0028590609658248017193" />
<inertia ixx="2.7747274432609138953e-08" ixy="2.5913261647569995835e-40"  ixz="1.3593957697859050564e-24" iyy="2.7747274432609152187e-08" iyz="4.2590746868555901075e-24" izz="4.8977394258054644615e-08" />
</inertial>
</link>

<joint name="w1_19_passive" type="revolute">
<origin xyz="-0.031513707793645470701 -0.020423912972217829476 -0.0025000000000000160982" rpy="-1.5707963267948938935 1.1338247319171006477 0.62831853071795706889" />
<parent link="wheel" />
<child link="passivewheel_19" />
<axis xyz="0 0 1"/>
<limit effort="1" velocity="20" />
<joint_properties friction="0.0"/>
</joint>

<link name="passivewheel_20">
<!-- Shapes for passivewheel -->
<collision>
<origin xyz="-5.5511151231257828177e-20 -2.2204460492503131271e-19 -0.0019999999999999974395" rpy="3.141592653589793116 -2.7755575615628913511e-17 0" />
<geometry>
<cylinder length="0.0030000000000000000625" radius="0.0060000000000000001249" />
</geometry>
</collision>
<!-- Shapes for passivewheel -->
<visual>
<origin xyz="-5.5511151231257828177e-20 -2.2204460492503131271e-19 -0.0019999999999999974395" rpy="3.141592653589793116 -2.7755575615628913511e-17 0" />
<geometry>
<cylinder length="0.0030000000000000000625" radius="0.0060000000000000001249" />
</geometry>
<material name="passivewheel_material">
<color rgba="0.30196078431372547213 0.29019607843137257275 0.26274509803921569651 1.0"/>
</material>
</visual>
<inertial>
<origin xyz="-4.2367147623766152578e-20 -6.1082968923288715513e-19 -0.0019999999999999978732" rpy="0 0 0"/>
<mass value="0.0028590609658248017193" />
<inertia ixx="2.7747274432609138953e-08" ixy="-7.7014157364188963004e-25"  ixz="2.1295373434277950538e-24" iyy="2.7747274432609138953e-08" iyz="5.4375830791436202255e-24" izz="4.8977394258054644615e-08" />
</inertial>
</link>

<joint name="w1_20_passive" type="revolute">
<origin xyz="-0.023659980949717652338 -0.029162566784475575654 -0.0025000000000000160982" rpy="-1.5707963267948930053 1.2436334312925152457 0.94247779607693582538" />
<parent link="wheel" />
<child link="passivewheel_20" />
<axis xyz="0 0 1"/>
<limit effort="1" velocity="20" />
<joint_properties friction="0.0"/>
</joint>

<joint name="wheel1_speed" type="revolute">
<origin xyz="0.069282032302755147679 -0.039999999999999986955 0.012999999999999999403" rpy="-1.570796326794896558 -0 1.0471975511965980754" />
<parent link="body" />
<child link="wheel" />
<axis xyz="0 0 1"/>
<limit effort="1" velocity="20" />
<joint_properties friction="0.0"/>
</joint>

<link name="wheel_2">
<collision>
<origin xyz="-3.9486462178061634448e-17 -0.013000000000000001138 -0.079999999999999987788" rpy="-1.570796326794896558 -1.0471975511965978534 0" />
<geometry>
<mesh filename="package:///wheel.stl"/>
</geometry>
</collision>
<visual>
<origin xyz="-3.9486462178061634448e-17 -0.013000000000000001138 -0.079999999999999987788" rpy="-1.570796326794896558 -1.0471975511965978534 0" />
<geometry>
<mesh filename="package:///wheel.stl"/>
</geometry>
<material name="wheel_material">
<color rgba="0.94117647058823528106 0.87450980392156862919 0.67843137254901964006 1.0"/>
</material>
</visual>
<inertial>
<origin xyz="-9.2850740984751212181e-11 1.4381200032914653875e-09 -0.0024999999445599815906" rpy="0 0 0"/>
<mass value="0.01924908488748922411" />
<inertia ixx="6.8765144932724296098e-06" ixy="-4.74141453805302909e-13"  ixz="1.42889198127198018e-14" iyy="6.8765142522306696936e-06" iyz="2.2762036673241546206e-14" izz="1.3673643547259721834e-05" />
</inertial>
</link>

<link name="passivewheel_21">
<!-- Shapes for passivewheel -->
<collision>
<origin xyz="1.3850032232198827817e-17 1.1102230246251565635e-19 0.0020000000000000039448" rpy="3.141592653589793116 4.1633363423443370266e-17 -2.7755575615628913511e-17" />
<geometry>
<cylinder length="0.0030000000000000000625" radius="0.0060000000000000001249" />
</geometry>
</collision>
<!-- Shapes for passivewheel -->
<visual>
<origin xyz="1.3850032232198827817e-17 1.1102230246251565635e-19 0.0020000000000000039448" rpy="3.141592653589793116 4.1633363423443370266e-17 -2.7755575615628913511e-17" />
<geometry>
<cylinder length="0.0030000000000000000625" radius="0.0060000000000000001249" />
</geometry>
<material name="passivewheel_material">
<color rgba="0.30196078431372547213 0.29019607843137257275 0.26274509803921569651 1.0"/>
</material>
</visual>
<inertial>
<origin xyz="1.386317623580631998e-17 -2.7776278184534008978e-19 0.0020000000000000035111" rpy="0 0 0"/>
<mass value="0.0028590609658248017193" />
<inertia ixx="2.7747274432609138953e-08" ixy="-7.7014157364188981371e-25"  ixz="-4.7551447556988228421e-25" iyy="2.7747274432609132335e-08" iyz="-2.7187915395718097454e-24" izz="4.897739425805463138e-08" />
</inertial>
</link>

<joint name="w3_1_passive" type="revolute">
<origin xyz="-0.013490250321650838414 0.035046585372318354856 -0.0024999999999999605871" rpy="1.570796326794896336 -1.3942429024899474221 1.8849555921538712067" />
<parent link="wheel_2" />
<child link="passivewheel_21" />
<axis xyz="0 0 1"/>
<limit effort="1" velocity="20" />
<joint_properties friction="0.0"/>
</joint>

<link name="passivewheel_22">
<!-- Shapes for passivewheel -->
<collision>
<origin xyz="-9.3987885136122752564e-50 -2.6274346206090320627e-49 -0.0020000000000000017764" rpy="3.141592653589793116 -2.1561582527688154085e-31 0" />
<geometry>
<cylinder length="0.0030000000000000000625" radius="0.0060000000000000001249" />
</geometry>
</collision>
<!-- Shapes for passivewheel -->
<visual>
<origin xyz="-9.3987885136122752564e-50 -2.6274346206090320627e-49 -0.0020000000000000017764" rpy="3.141592653589793116 -2.1561582527688154085e-31 0" />
<geometry>
<cylinder length="0.0030000000000000000625" radius="0.0060000000000000001249" />
</geometry>
<material name="passivewheel_material">
<color rgba="0.30196078431372547213 0.29019607843137257275 0.26274509803921569651 1.0"/>
</material>
</visual>
<inertial>
<origin xyz="1.3144003607491675598e-20 -3.8878508430785584243e-19 -0.00200000000000000221" rpy="0 0 0"/>
<mass value="0.0028590609658248017193" />
<inertia ixx="2.7747274432609138953e-08" ixy="-2.7360925032904852604e-39"  ixz="5.9827514759711366955e-39" iyy="2.7747274432609138953e-08" iyz="6.4342450650415391044e-54" izz="4.8977394258054644615e-08" />
</inertial>
</link>

<joint name="w3_2_passive" type="revolute">
<origin xyz="-0.0020000000000000134857 0.037499999999999991673 -0.0024999999999999605871" rpy="9.8607613152626344305e-32 -1.570796326794896336 0" />
<parent link="wheel_2" />
<child link="passivewheel_22" />
<axis xyz="0 0 1"/>
<limit effort="1" velocity="20" />
<joint_properties friction="0.0"/>
</joint>

<link name="passivewheel_23">
<!-- Shapes for passivewheel -->
<collision>
<origin xyz="-3.3306690738754696906e-19 6.9388939039072283776e-18 0.0020000000000000013427" rpy="0 -4.1633363423443370266e-17 -5.5511151231257827021e-17" />
<geometry>
<cylinder length="0.0030000000000000000625" radius="0.0060000000000000001249" />
</geometry>
</collision>
<!-- Shapes for passivewheel -->
<visual>
<origin xyz="-3.3306690738754696906e-19 6.9388939039072283776e-18 0.0020000000000000013427" rpy="0 -4.1633363423443370266e-17 -5.5511151231257827021e-17" />
<geometry>
<cylinder length="0.0030000000000000000625" radius="0.0060000000000000001249" />
</geometry>
<material name="passivewheel_material">
<color rgba="0.30196078431372547213 0.29019607843137257275 0.26274509803921569651 1.0"/>
</material>
</visual>
<inertial>
<origin xyz="-3.1992290378005538374e-19 7.3276789882150846053e-18 0.0020000000000000017764" rpy="0 0 0"/>
<mass value="0.0028590609658248017193" />
<inertia ixx="2.7747274432609138953e-08" ixy="-7.7014157364188981371e-25"  ixz="-7.0011622582525930463e-24" iyy="2.7747274432609138953e-08" iyz="-6.412716804587074829e-41" izz="4.897739425805463138e-08" />
</inertial>
</link>

<joint name="w3_3_passive" type="revolute">
<origin xyz="0.0096860242564702232065 0.036282653349818151656 -0.0024999999999999744649" rpy="-1.5707963267948958919 -1.3942429024899476442 -1.8849555921538694303" />
<parent link="wheel_2" />
<child link="passivewheel_23" />
<axis xyz="0 0 1"/>
<limit effort="1" velocity="20" />
<joint_properties friction="0.0"/>
</joint>

<link name="passivewheel_24">
<!-- Shapes for passivewheel -->
<collision>
<origin xyz="0 3.3584246494910984362e-18 -0.0019999999999999948375" rpy="3.141592653589793116 -0 -2.7755575615628919674e-17" />
<geometry>
<cylinder length="0.0030000000000000000625" radius="0.0060000000000000001249" />
</geometry>
</collision>
<!-- Shapes for passivewheel -->
<visual>
<origin xyz="0 3.3584246494910984362e-18 -0.0019999999999999948375" rpy="3.141592653589793116 -0 -2.7755575615628919674e-17" />
<geometry>
<cylinder length="0.0030000000000000000625" radius="0.0060000000000000001249" />
</geometry>
<material name="passivewheel_material">
<color rgba="0.30196078431372547213 0.29019607843137257275 0.26274509803921569651 1.0"/>
</material>
</visual>
<inertial>
<origin xyz="1.3144003607491674094e-20 2.9696395651832422086e-18 -0.0019999999999999952711" rpy="0 0 0"/>
<mass value="0.0028590609658248017193" />
<inertia ixx="2.7747274432609132335e-08" ixy="-7.7014157364188972188e-25"  ixz="0" iyy="2.7747274432609138953e-08" iyz="2.7187915395718101128e-24" izz="4.8977394258054644615e-08" />
</inertial>
</link>

<joint name="w3_4_passive" type="revolute">
<origin xyz="0.020423912972217819067 0.031513707793645477639 -0.0024999999999999605871" rpy="1.570796326794896336 -1.2436334312925134693 -2.1991148575128427467" />
<parent link="wheel_2" />
<child link="passivewheel_24" />
<axis xyz="0 0 1"/>
<limit effort="1" velocity="20" />
<joint_properties friction="0.0"/>
</joint>

<link name="passivewheel_25">
<!-- Shapes for passivewheel -->
<collision>
<origin xyz="-5.5511151231257828177e-20 -7.5633943552588789085e-19 -0.0020000000000000017764" rpy="3.141592653589793116 -0 -2.7755575615628913511e-17" />
<geometry>
<cylinder length="0.0030000000000000000625" radius="0.0060000000000000001249" />
</geometry>
</collision>
<!-- Shapes for passivewheel -->
<visual>
<origin xyz="-5.5511151231257828177e-20 -7.5633943552588789085e-19 -0.0020000000000000017764" rpy="3.141592653589793116 -0 -2.7755575615628913511e-17" />
<geometry>
<cylinder length="0.0030000000000000000625" radius="0.0060000000000000001249" />
</geometry>
<material name="passivewheel_material">
<color rgba="0.30196078431372547213 0.29019607843137257275 0.26274509803921569651 1.0"/>
</material>
</visual>
<inertial>
<origin xyz="-4.2367147623766170634e-20 -1.145124519833743637e-18 -0.00200000000000000221" rpy="0 0 0"/>
<mass value="0.0028590609658248017193" />
<inertia ixx="2.7747274432609138953e-08" ixy="-7.7014157364188990555e-25"  ixz="1.3593957697859050564e-24" iyy="2.7747274432609132335e-08" iyz="-2.7187915395718101128e-24" izz="4.8977394258054644615e-08" />
</inertial>
</link>

<joint name="w3_5_passive" type="revolute">
<origin xyz="0.029162566784475572185 0.023659980949717641929 -0.0024999999999999744649" rpy="1.57079632679489678 -1.1338247319170993155 -2.5132741228718233906" />
<parent link="wheel_2" />
<child link="passivewheel_25" />
<axis xyz="0 0 1"/>
<limit effort="1" velocity="20" />
<joint_properties friction="0.0"/>
</joint>

<link name="passivewheel_26">
<!-- Shapes for passivewheel -->
<collision>
<origin xyz="-1.3933298959045714632e-17 -4.336808689942017736e-19 -0.0020000000000000017764" rpy="-3.141592653589793116 -0 0" />
<geometry>
<cylinder length="0.0030000000000000000625" radius="0.0060000000000000001249" />
</geometry>
</collision>
<!-- Shapes for passivewheel -->
<visual>
<origin xyz="-1.3933298959045714632e-17 -4.336808689942017736e-19 -0.0020000000000000017764" rpy="-3.141592653589793116 -0 0" />
<geometry>
<cylinder length="0.0030000000000000000625" radius="0.0060000000000000001249" />
</geometry>
<material name="passivewheel_material">
<color rgba="0.30196078431372547213 0.29019607843137257275 0.26274509803921569651 1.0"/>
</material>
</visual>
<inertial>
<origin xyz="-1.3920154955438224009e-17 -8.2246595330205771233e-19 -0.00200000000000000221" rpy="0 0 0"/>
<mass value="0.0028590609658248017193" />
<inertia ixx="2.7747274432609152187e-08" ixy="0"  ixz="1.3593957697859050564e-24" iyy="2.7747274432609132335e-08" iyz="1.5402831472837794438e-24" izz="4.8977394258054644615e-08" />
</inertial>
</link>

<joint name="w3_6_passive" type="revolute">
<origin xyz="0.03504658537231833404 0.013490250321650838414 -0.0024999999999999605871" rpy="1.570796326794896336 -1.0686499387975645359 -2.8274333882308080312" />
<parent link="wheel_2" />
<child link="passivewheel_26" />
<axis xyz="0 0 1"/>
<limit effort="1" velocity="20" />
<joint_properties friction="0.0"/>
</joint>

<link name="passivewheel_27">
<!-- Shapes for passivewheel -->
<collision>
<origin xyz="-1.9721522630525295546e-34 -1.7347234759768070944e-18 -0.0020000000000000000416" rpy="-3.9443045261050590271e-31 -9.8607613152626475676e-32 -2.4651903288145233369e-32" />
<geometry>
<cylinder length="0.0030000000000000000625" radius="0.0060000000000000001249" />
</geometry>
</collision>
<!-- Shapes for passivewheel -->
<visual>
<origin xyz="-1.9721522630525295546e-34 -1.7347234759768070944e-18 -0.0020000000000000000416" rpy="-3.9443045261050590271e-31 -9.8607613152626475676e-32 -2.4651903288145233369e-32" />
<geometry>
<cylinder length="0.0030000000000000000625" radius="0.0060000000000000001249" />
</geometry>
<material name="passivewheel_material">
<color rgba="0.30196078431372547213 0.29019607843137257275 0.26274509803921569651 1.0"/>
</material>
</visual>
<inertial>
<origin xyz="1.3144003607491478492e-20 -1.345938391668951252e-18 -0.001999999999999999608" rpy="0 0 0"/>
<mass value="0.0028590609658248017193" />
<inertia ixx="2.7747274432609138953e-08" ixy="1.1858925207528818512e-51"  ixz="-2.0934514429314363421e-39" iyy="2.7747274432609138953e-08" iyz="-1.0944370013161941042e-38" izz="4.8977394258054644615e-08" />
</inertial>
</link>

<joint name="w3_7_passive" type="revolute">
<origin xyz="0.037499999999999984734 0.0020000000000000052458 -0.0024999999999999605871" rpy="1.5707963267948938935 -1.0471975511965967431 3.1415926535897917837" />
<parent link="wheel_2" />
<child link="passivewheel_27" />
<axis xyz="0 0 1"/>
<limit effort="1" velocity="20" />
<joint_properties friction="0.0"/>
</joint>

<link name="passivewheel_28">
<!-- Shapes for passivewheel -->
<collision>
<origin xyz="1.3877787807814456755e-17 1.1102230246251565635e-19 0.0020000000000000000416" rpy="3.141592653589793116 -0 0" />
<geometry>
<cylinder length="0.0030000000000000000625" radius="0.0060000000000000001249" />
</geometry>
</collision>
<!-- Shapes for passivewheel -->
<visual>
<origin xyz="1.3877787807814456755e-17 1.1102230246251565635e-19 0.0020000000000000000416" rpy="3.141592653589793116 -0 0" />
<geometry>
<cylinder length="0.0030000000000000000625" radius="0.0060000000000000001249" />
</geometry>
<material name="passivewheel_material">
<color rgba="0.30196078431372547213 0.29019607843137257275 0.26274509803921569651 1.0"/>
</material>
</visual>
<inertial>
<origin xyz="1.3890931811421947378e-17 -2.7776278184534018607e-19 0.001999999999999999608" rpy="0 0 0"/>
<mass value="0.0028590609658248017193" />
<inertia ixx="2.7747274432609138953e-08" ixy="-1.9253539341047245343e-25"  ixz="0" iyy="2.7747274432609138953e-08" iyz="-2.7187915395718101128e-24" izz="4.8977394258054644615e-08" />
</inertial>
</link>

<joint name="w3_8_passive" type="revolute">
<origin xyz="0.036282653349818137778 -0.0096860242564702162676 -0.0024999999999999744649" rpy="-1.5707963267948970021 -1.0686499387975643138 2.827433388230806699" />
<parent link="wheel_2" />
<child link="passivewheel_28" />
<axis xyz="0 0 1"/>
<limit effort="1" velocity="20" />
<joint_properties friction="0.0"/>
</joint>

<link name="passivewheel_29">
<!-- Shapes for passivewheel -->
<collision>
<origin xyz="1.3877787807814456755e-17 0 -0.0020000000000000017764" rpy="0 2.7755575615628913511e-17 0" />
<geometry>
<cylinder length="0.0030000000000000000625" radius="0.0060000000000000001249" />
</geometry>
</collision>
<!-- Shapes for passivewheel -->
<visual>
<origin xyz="1.3877787807814456755e-17 0 -0.0020000000000000017764" rpy="0 2.7755575615628913511e-17 0" />
<geometry>
<cylinder length="0.0030000000000000000625" radius="0.0060000000000000001249" />
</geometry>
<material name="passivewheel_material">
<color rgba="0.30196078431372547213 0.29019607843137257275 0.26274509803921569651 1.0"/>
</material>
</visual>
<inertial>
<origin xyz="1.3890931811421947378e-17 3.8878508430785584243e-19 -0.0020000000000000013427" rpy="0 0 0"/>
<mass value="0.0028590609658248017193" />
<inertia ixx="2.7747274432609138953e-08" ixy="7.7014157364188981371e-25"  ixz="-7.7014157364188981371e-25" iyy="2.7747274432609138953e-08" iyz="0" izz="4.8977394258054644615e-08" />
</inertial>
</link>

<joint name="w3_9_passive" type="revolute">
<origin xyz="0.031513707793645470701 -0.020423912972217836415 -0.0024999999999999467093" rpy="1.570796326794896336 -1.1338247319170990934 2.5132741228718216142" />
<parent link="wheel_2" />
<child link="passivewheel_29" />
<axis xyz="0 0 1"/>
<limit effort="1" velocity="20" />
<joint_properties friction="0.0"/>
</joint>

<link name="passivewheel_30">
<!-- Shapes for passivewheel -->
<collision>
<origin xyz="-5.5511151231257828177e-20 4.0063438677684357873e-18 -0.0019999999999999965722" rpy="-3.141592653589793116 5.5511151231257827021e-17 -8.3266726846886740532e-17" />
<geometry>
<cylinder length="0.0030000000000000000625" radius="0.0060000000000000001249" />
</geometry>
</collision>
<!-- Shapes for passivewheel -->
<visual>
<origin xyz="-5.5511151231257828177e-20 4.0063438677684357873e-18 -0.0019999999999999965722" rpy="-3.141592653589793116 5.5511151231257827021e-17 -8.3266726846886740532e-17" />
<geometry>
<cylinder length="0.0030000000000000000625" radius="0.0060000000000000001249" />
</geometry>
<material name="passivewheel_material">
<color rgba="0.30196078431372547213 0.29019607843137257275 0.26274509803921569651 1.0"/>
</material>
</visual>
<inertial>
<origin xyz="-4.2367147623766176652e-20 3.6175587834605795597e-18 -0.0019999999999999970059" rpy="0 0 0"/>
<mass value="0.0028590609658248017193" />
<inertia ixx="2.7747274432609138953e-08" ixy="-1.5402831472837794438e-24"  ixz="-1.8088737749787457105e-25" iyy="2.7747274432609138953e-08" iyz="6.9778662264274005876e-24" izz="4.8977394258054644615e-08" />
</inertial>
</link>

<joint name="w3_10_passive" type="revolute">
<origin xyz="0.02365998094971763499 -0.029162566784475561776 -0.0024999999999999883427" rpy="1.570796326794896336 -1.2436334312925132473 2.199114857512844079" />
<parent link="wheel_2" />
<child link="passivewheel_30" />
<axis xyz="0 0 1"/>
<limit effort="1" velocity="20" />
<joint_properties friction="0.0"/>
</joint>

<link name="passivewheel_31">
<!-- Shapes for passivewheel -->
<collision>
<origin xyz="1.3863910020006642286e-17 1.7347234759768070944e-18 -0.0019999999999999939701" rpy="3.141592653589793116 3.4694469519536148051e-17 0" />
<geometry>
<cylinder length="0.0030000000000000000625" radius="0.0060000000000000001249" />
</geometry>
</collision>
<!-- Shapes for passivewheel -->
<visual>
<origin xyz="1.3863910020006642286e-17 1.7347234759768070944e-18 -0.0019999999999999939701" rpy="3.141592653589793116 3.4694469519536148051e-17 0" />
<geometry>
<cylinder length="0.0030000000000000000625" radius="0.0060000000000000001249" />
</geometry>
<material name="passivewheel_material">
<color rgba="0.30196078431372547213 0.29019607843137257275 0.26274509803921569651 1.0"/>
</material>
</visual>
<inertial>
<origin xyz="1.3877054023614134449e-17 1.345938391668951252e-18 -0.0019999999999999944038" rpy="0 0 0"/>
<mass value="0.0028590609658248017193" />
<inertia ixx="2.7747274432609132335e-08" ixy="-7.7014157364188981371e-25"  ixz="-6.2282802460588577346e-25" iyy="2.7747274432609138953e-08" iyz="0" izz="4.8977394258054644615e-08" />
</inertial>
</link>

<joint name="w3_11_passive" type="revolute">
<origin xyz="0.013490250321650852292 -0.035046585372318347917 -0.0024999999999999744649" rpy="1.5707963267948943376 -1.3942429024899476442 1.8849555921538716508" />
<parent link="wheel_2" />
<child link="passivewheel_31" />
<axis xyz="0 0 1"/>
<limit effort="1" velocity="20" />
<joint_properties friction="0.0"/>
</joint>

<link name="passivewheel_32">
<!-- Shapes for passivewheel -->
<collision>
<origin xyz="1.4099832412739488261e-17 0 -0.0020000000000000074142" rpy="3.141592653589793116 -5.9357594720593726362e-33 0" />
<geometry>
<cylinder length="0.0030000000000000000625" radius="0.0060000000000000001249" />
</geometry>
</collision>
<!-- Shapes for passivewheel -->
<visual>
<origin xyz="1.4099832412739488261e-17 0 -0.0020000000000000074142" rpy="3.141592653589793116 -5.9357594720593726362e-33 0" />
<geometry>
<cylinder length="0.0030000000000000000625" radius="0.0060000000000000001249" />
</geometry>
<material name="passivewheel_material">
<color rgba="0.30196078431372547213 0.29019607843137257275 0.26274509803921569651 1.0"/>
</material>
</visual>
<inertial>
<origin xyz="1.4112976416346978883e-17 -3.8878508430785584243e-19 -0.0020000000000000078479" rpy="0 0 0"/>
<mass value="0.0028590609658248017193" />
<inertia ixx="2.7747274432609138953e-08" ixy="-2.1375722681956916097e-41"  ixz="-5.4375830791436194908e-24" iyy="2.7747274432609138953e-08" iyz="-3.4201156291131065755e-40" izz="4.897739425805463138e-08" />
</inertial>
</link>

<joint name="w3_12_passive" type="revolute">
<origin xyz="0.0020000000000000108837 -0.037499999999999991673 -0.0024999999999999744649" rpy="-3.141592653589793116 -1.570796326794896336 0" />
<parent link="wheel_2" />
<child link="passivewheel_32" />
<axis xyz="0 0 1"/>
<limit effort="1" velocity="20" />
<joint_properties friction="0.0"/>
</joint>

<link name="passivewheel_33">
<!-- Shapes for passivewheel -->
<collision>
<origin xyz="-1.3905543383430085693e-17 0 -0.0020000000000000061132" rpy="3.141592653589793116 -2.7755575615628913511e-17 0" />
<geometry>
<cylinder length="0.0030000000000000000625" radius="0.0060000000000000001249" />
</geometry>
</collision>
<!-- Shapes for passivewheel -->
<visual>
<origin xyz="-1.3905543383430085693e-17 0 -0.0020000000000000061132" rpy="3.141592653589793116 -2.7755575615628913511e-17 0" />
<geometry>
<cylinder length="0.0030000000000000000625" radius="0.0060000000000000001249" />
</geometry>
<material name="passivewheel_material">
<color rgba="0.30196078431372547213 0.29019607843137257275 0.26274509803921569651 1.0"/>
</material>
</visual>
<inertial>
<origin xyz="-1.3892399379822595071e-17 -3.8878508430785574613e-19 -0.0020000000000000065468" rpy="0 0 0"/>
<mass value="0.0028590609658248017193" />
<inertia ixx="2.7747274432609138953e-08" ixy="0"  ixz="1.4498394585348424337e-24" iyy="2.7747274432609132335e-08" iyz="0" izz="4.8977394258054644615e-08" />
</inertial>
</link>

<joint name="w3_13_passive" type="revolute">
<origin xyz="-0.0096860242564702127982 -0.036282653349818144717 -0.0024999999999999744649" rpy="-1.5707963267948956698 -1.3942429024899478662 -1.8849555921538712067" />
<parent link="wheel_2" />
<child link="passivewheel_33" />
<axis xyz="0 0 1"/>
<limit effort="1" velocity="20" />
<joint_properties friction="0.0"/>
</joint>

<link name="passivewheel_34">
<!-- Shapes for passivewheel -->
<collision>
<origin xyz="1.3877787807814456755e-17 0 -0.00200000000000000221" rpy="-5.5511151231257839347e-17 -5.5511151231257827021e-17 -2.7755575615628913511e-17" />
<geometry>
<cylinder length="0.0030000000000000000625" radius="0.0060000000000000001249" />
</geometry>
</collision>
<!-- Shapes for passivewheel -->
<visual>
<origin xyz="1.3877787807814456755e-17 0 -0.00200000000000000221" rpy="-5.5511151231257839347e-17 -5.5511151231257827021e-17 -2.7755575615628913511e-17" />
<geometry>
<cylinder length="0.0030000000000000000625" radius="0.0060000000000000001249" />
</geometry>
<material name="passivewheel_material">
<color rgba="0.30196078431372547213 0.29019607843137257275 0.26274509803921569651 1.0"/>
</material>
</visual>
<inertial>
<origin xyz="1.3890931811421947378e-17 3.8878508430785584243e-19 -0.0020000000000000017764" rpy="0 0 0"/>
<mass value="0.0028590609658248017193" />
<inertia ixx="2.7747274432609138953e-08" ixy="-2.3104247209256694411e-24"  ixz="1.5402831472837796274e-24" iyy="2.7747274432609138953e-08" iyz="-1.5402831472837796274e-24" izz="4.897739425805463138e-08" />
</inertial>
</link>

<joint name="w3_14_passive" type="revolute">
<origin xyz="-0.020423912972217815598 -0.031513707793645470701 -0.0024999999999999744649" rpy="-1.570796326794896336 -1.2436334312925139134 -2.1991148575128436349" />
<parent link="wheel_2" />
<child link="passivewheel_34" />
<axis xyz="0 0 1"/>
<limit effort="1" velocity="20" />
<joint_properties friction="0.0"/>
</joint>

<link name="passivewheel_35">
<!-- Shapes for passivewheel -->
<collision>
<origin xyz="-1.1102230246251565635e-19 6.7168492989821968723e-18 -0.0019999999999999965722" rpy="1.1102230246251565404e-16 -0 -2.7755575615628913511e-17" />
<geometry>
<cylinder length="0.0030000000000000000625" radius="0.0060000000000000001249" />
</geometry>
</collision>
<!-- Shapes for passivewheel -->
<visual>
<origin xyz="-1.1102230246251565635e-19 6.7168492989821968723e-18 -0.0019999999999999965722" rpy="1.1102230246251565404e-16 -0 -2.7755575615628913511e-17" />
<geometry>
<cylinder length="0.0030000000000000000625" radius="0.0060000000000000001249" />
</geometry>
<material name="passivewheel_material">
<color rgba="0.30196078431372547213 0.29019607843137257275 0.26274509803921569651 1.0"/>
</material>
</visual>
<inertial>
<origin xyz="-9.7878298855023998811e-20 7.1056343832900531e-18 -0.0019999999999999961385" rpy="0 0 0"/>
<mass value="0.0028590609658248017193" />
<inertia ixx="2.7747274432609138953e-08" ixy="-7.701415736418895382e-25"  ixz="-2.7187915395718101128e-24" iyy="2.7747274432609138953e-08" iyz="-2.3570167845760609707e-24" izz="4.8977394258054644615e-08" />
</inertial>
</link>

<joint name="w3_15_passive" type="revolute">
<origin xyz="-0.02916256678447559994 -0.023659980949717641929 -0.0024999999999999605871" rpy="-1.57079632679489678 -1.1338247319170995375 -2.5132741228718225024" />
<parent link="wheel_2" />
<child link="passivewheel_35" />
<axis xyz="0 0 1"/>
<limit effort="1" velocity="20" />
<joint_properties friction="0.0"/>
</joint>

<link name="passivewheel_36">
<!-- Shapes for passivewheel -->
<collision>
<origin xyz="-5.5511151231257828177e-20 -2.2204460492503131271e-19 -0.0020000000000000004753" rpy="0 5.5511151231257827021e-17 -1.3877787807814456755e-17" />
<geometry>
<cylinder length="0.0030000000000000000625" radius="0.0060000000000000001249" />
</geometry>
</collision>
<!-- Shapes for passivewheel -->
<visual>
<origin xyz="-5.5511151231257828177e-20 -2.2204460492503131271e-19 -0.0020000000000000004753" rpy="0 5.5511151231257827021e-17 -1.3877787807814456755e-17" />
<geometry>
<cylinder length="0.0030000000000000000625" radius="0.0060000000000000001249" />
</geometry>
<material name="passivewheel_material">
<color rgba="0.30196078431372547213 0.29019607843137257275 0.26274509803921569651 1.0"/>
</material>
</visual>
<inertial>
<origin xyz="-4.2367147623766170634e-20 1.6674047938282448157e-19 -0.0020000000000000000416" rpy="0 0 0"/>
<mass value="0.0028590609658248017193" />
<inertia ixx="2.7747274432609138953e-08" ixy="-3.850707868209447691e-25"  ixz="-2.8996789170696845001e-24" iyy="2.7747274432609138953e-08" iyz="-5.4375830791436194908e-24" izz="4.897739425805463138e-08" />
</inertial>
</link>

<joint name="w3_16_passive" type="revolute">
<origin xyz="-0.035046585372318361795 -0.013490250321650843618 -0.0024999999999999605871" rpy="-1.570796326794896336 -1.0686499387975645359 -2.8274333882308080312" />
<parent link="wheel_2" />
<child link="passivewheel_36" />
<axis xyz="0 0 1"/>
<limit effort="1" velocity="20" />
<joint_properties friction="0.0"/>
</joint>

<link name="passivewheel_37">
<!-- Shapes for passivewheel -->
<collision>
<origin xyz="0 1.3877787807814456755e-17 0.0020000000000000000416" rpy="-3.141592653589793116 -0 -4.622231866529037618e-33" />
<geometry>
<cylinder length="0.0030000000000000000625" radius="0.0060000000000000001249" />
</geometry>
</collision>
<!-- Shapes for passivewheel -->
<visual>
<origin xyz="0 1.3877787807814456755e-17 0.0020000000000000000416" rpy="-3.141592653589793116 -0 -4.622231866529037618e-33" />
<geometry>
<cylinder length="0.0030000000000000000625" radius="0.0060000000000000001249" />
</geometry>
<material name="passivewheel_material">
<color rgba="0.30196078431372547213 0.29019607843137257275 0.26274509803921569651 1.0"/>
</material>
</visual>
<inertial>
<origin xyz="1.3144003607491675598e-20 1.3489002723506598987e-17 0.001999999999999999608" rpy="0 0 0"/>
<mass value="0.0028590609658248017193" />
<inertia ixx="2.7747274432609138953e-08" ixy="3.4201156291132949936e-40"  ixz="2.3185898923883018276e-71" iyy="2.7747274432609138953e-08" iyz="1.3680462516452426302e-39" izz="4.8977394258054644615e-08" />
</inertial>
</link>

<joint name="w3_17_passive" type="revolute">
<origin xyz="-0.037499999999999991673 -0.00200000000000001045 -0.0024999999999999744649" rpy="1.5707963267948978903 -1.0471975511965974093 3.141592653589793116" />
<parent link="wheel_2" />
<child link="passivewheel_37" />
<axis xyz="0 0 1"/>
<limit effort="1" velocity="20" />
<joint_properties friction="0.0"/>
</joint>

<link name="passivewheel_38">
<!-- Shapes for passivewheel -->
<collision>
<origin xyz="0 2.2204460492503131271e-19 -0.0019999999999999970059" rpy="3.141592653589793116 2.7755575615628919674e-17 0" />
<geometry>
<cylinder length="0.0030000000000000000625" radius="0.0060000000000000001249" />
</geometry>
</collision>
<!-- Shapes for passivewheel -->
<visual>
<origin xyz="0 2.2204460492503131271e-19 -0.0019999999999999970059" rpy="3.141592653589793116 2.7755575615628919674e-17 0" />
<geometry>
<cylinder length="0.0030000000000000000625" radius="0.0060000000000000001249" />
</geometry>
<material name="passivewheel_material">
<color rgba="0.30196078431372547213 0.29019607843137257275 0.26274509803921569651 1.0"/>
</material>
</visual>
<inertial>
<origin xyz="1.3144003607491671085e-20 -1.6674047938282448157e-19 -0.0019999999999999974395" rpy="0 0 0"/>
<mass value="0.0028590609658248017193" />
<inertia ixx="2.7747274432609132335e-08" ixy="1.9253539341047245343e-25"  ixz="-7.7014157364188972188e-25" iyy="2.7747274432609138953e-08" iyz="-5.4375830791436216949e-24" izz="4.8977394258054671085e-08" />
</inertial>
</link>

<joint name="w3_18_passive" type="revolute">
<origin xyz="-0.036282653349818130839 0.0096860242564702127982 -0.0024999999999999883427" rpy="-1.570796326794896336 -1.0686499387975638697 2.827433388230806699" />
<parent link="wheel_2" />
<child link="passivewheel_38" />
<axis xyz="0 0 1"/>
<limit effort="1" velocity="20" />
<joint_properties friction="0.0"/>
</joint>

<link name="passivewheel_39">
<!-- Shapes for passivewheel -->
<collision>
<origin xyz="0 -1.1102230246251565635e-19 -0.0019999999999999965722" rpy="-3.141592653589793116 5.5511151231257814695e-17 2.7755575615628907348e-17" />
<geometry>
<cylinder length="0.0030000000000000000625" radius="0.0060000000000000001249" />
</geometry>
</collision>
<!-- Shapes for passivewheel -->
<visual>
<origin xyz="0 -1.1102230246251565635e-19 -0.0019999999999999965722" rpy="-3.141592653589793116 5.5511151231257814695e-17 2.7755575615628907348e-17" />
<geometry>
<cylinder length="0.0030000000000000000625" radius="0.0060000000000000001249" />
</geometry>
<material name="passivewheel_material">
<color rgba="0.30196078431372547213 0.29019607843137257275 0.26274509803921569651 1.0"/>
</material>
</visual>
<inertial>
<origin xyz="1.3144003607491690645e-20 -4.9980738677037149878e-19 -0.0019999999999999970059" rpy="0 0 0"/>
<mass value="0.0028590609658248017193" />
<inertia ixx="2.7747274432609152187e-08" ixy="1.8367099231598242312e-40"  ixz="-1.5402831472837799948e-24" iyy="2.7747274432609138953e-08" iyz="4.2590746868555901075e-24" izz="4.8977394258054644615e-08" />
</inertial>
</link>

<joint name="w3_19_passive" type="revolute">
<origin xyz="-0.031513707793645484578 0.020423912972217829476 -0.0024999999999999744649" rpy="-1.570796326794896558 -1.1338247319170982053 2.5132741228718211701" />
<parent link="wheel_2" />
<child link="passivewheel_39" />
<axis xyz="0 0 1"/>
<limit effort="1" velocity="20" />
<joint_properties friction="0.0"/>
</joint>

<link name="passivewheel_40">
<!-- Shapes for passivewheel -->
<collision>
<origin xyz="5.5511151231257828177e-20 -2.2204460492503131271e-19 -0.0020000000000000061132" rpy="3.141592653589793116 -2.7755575615628913511e-17 0" />
<geometry>
<cylinder length="0.0030000000000000000625" radius="0.0060000000000000001249" />
</geometry>
</collision>
<!-- Shapes for passivewheel -->
<visual>
<origin xyz="5.5511151231257828177e-20 -2.2204460492503131271e-19 -0.0020000000000000061132" rpy="3.141592653589793116 -2.7755575615628913511e-17 0" />
<geometry>
<cylinder length="0.0030000000000000000625" radius="0.0060000000000000001249" />
</geometry>
<material name="passivewheel_material">
<color rgba="0.30196078431372547213 0.29019607843137257275 0.26274509803921569651 1.0"/>
</material>
</visual>
<inertial>
<origin xyz="6.865515483874948572e-20 -6.1082968923288715513e-19 -0.0020000000000000065468" rpy="0 0 0"/>
<mass value="0.0028590609658248017193" />
<inertia ixx="2.7747274432609138953e-08" ixy="1.5402831472837794438e-24"  ixz="-5.892541961440153345e-25" iyy="2.7747274432609138953e-08" iyz="3.8972999318598405981e-24" izz="4.8977394258054644615e-08" />
</inertial>
</link>

<joint name="w3_20_passive" type="revolute">
<origin xyz="-0.023659980949717669685 0.029162566784475582593 -0.0024999999999999467093" rpy="-1.570796326794896558 -1.243633431292512137 2.1991148575128400822" />
<parent link="wheel_2" />
<child link="passivewheel_40" />
<axis xyz="0 0 1"/>
<limit effort="1" velocity="20" />
<joint_properties friction="0.0"/>
</joint>

<joint name="wheel3_speed" type="revolute">
<origin xyz="-0.069282032302755092168 -0.040000000000000063283 0.012999999999999999403" rpy="1.570796326794896558 -0 2.0943951023931961508" />
<parent link="body" />
<child link="wheel_2" />
<axis xyz="0 0 1"/>
<limit effort="1" velocity="20" />
<joint_properties friction="0.0"/>
</joint>

<link name="wheel_3">
<collision>
<origin xyz="-1.1102230246251547532e-17 0.013000000000000001138 0.07500000000000002498" rpy="1.570796326794896558 1.0471975511965980754 0" />
<geometry>
<mesh filename="package:///wheel.stl"/>
</geometry>
</collision>
<visual>
<origin xyz="-1.1102230246251547532e-17 0.013000000000000001138 0.07500000000000002498" rpy="1.570796326794896558 1.0471975511965980754 0" />
<geometry>
<mesh filename="package:///wheel.stl"/>
</geometry>
<material name="wheel_material">
<color rgba="0.94117647058823528106 0.87450980392156862919 0.67843137254901964006 1.0"/>
</material>
</visual>
<inertial>
<origin xyz="-9.285072016806950046e-11 -1.4381200032914653875e-09 -0.0025000000554399950947" rpy="0 0 0"/>
<mass value="0.01924908488748922411" />
<inertia ixx="6.8765144932724313039e-06" ixy="4.74141453805302909e-13"  ixz="-1.4288918542170380918e-14" iyy="6.8765142522306696936e-06" iyz="2.276203667324157145e-14" izz="1.3673643547259726916e-05" />
</inertial>
</link>

<link name="passivewheel_41">
<!-- Shapes for passivewheel -->
<collision>
<origin xyz="-2.7755575615628914088e-20 -7.0499162063697441303e-18 0.0019999999999999991743" rpy="3.141592653589793116 -6.9388939039072268369e-18 0" />
<geometry>
<cylinder length="0.0030000000000000000625" radius="0.0060000000000000001249" />
</geometry>
</collision>
<!-- Shapes for passivewheel -->
<visual>
<origin xyz="-2.7755575615628914088e-20 -7.0499162063697441303e-18 0.0019999999999999991743" rpy="3.141592653589793116 -6.9388939039072268369e-18 0" />
<geometry>
<cylinder length="0.0030000000000000000625" radius="0.0060000000000000001249" />
</geometry>
<material name="passivewheel_material">
<color rgba="0.30196078431372547213 0.29019607843137257275 0.26274509803921569651 1.0"/>
</material>
</visual>
<inertial>
<origin xyz="-1.4611572008137241499e-20 -7.4387012906776003579e-18 0.0019999999999999987406" rpy="0 0 0"/>
<mass value="0.0028590609658248017193" />
<inertia ixx="2.7747274432609152187e-08" ixy="3.7730812079858762519e-41"  ixz="8.7223327830342507345e-25" iyy="2.7747274432609138953e-08" iyz="2.7187915395718101128e-24" izz="4.8977394258054644615e-08" />
</inertial>
</link>

<joint name="w2_1_passive" type="revolute">
<origin xyz="-0.013490250321650822801 -0.035046585372318347917 -0.0025000000000000022204" rpy="-1.5707963267948952257 -1.3942429024899474221 -1.8849555921538756476" />
<parent link="wheel_3" />
<child link="passivewheel_41" />
<axis xyz="0 0 1"/>
<limit effort="1" velocity="20" />
<joint_properties friction="0.0"/>
</joint>

<link name="passivewheel_42">
<!-- Shapes for passivewheel -->
<collision>
<origin xyz="0 0 -0.0020000000000000000416" rpy="3.141592653589793116 3.8334010273658741125e-32 0" />
<geometry>
<cylinder length="0.0030000000000000000625" radius="0.0060000000000000001249" />
</geometry>
</collision>
<!-- Shapes for passivewheel -->
<visual>
<origin xyz="0 0 -0.0020000000000000000416" rpy="3.141592653589793116 3.8334010273658741125e-32 0" />
<geometry>
<cylinder length="0.0030000000000000000625" radius="0.0060000000000000001249" />
</geometry>
<material name="passivewheel_material">
<color rgba="0.30196078431372547213 0.29019607843137257275 0.26274509803921569651 1.0"/>
</material>
</visual>
<inertial>
<origin xyz="1.3144003607491675598e-20 -3.8878508430785584243e-19 -0.0020000000000000004753" rpy="0 0 0"/>
<mass value="0.0028590609658248017193" />
<inertia ixx="2.7747274432609138953e-08" ixy="0"  ixz="-1.0636643031656672429e-39" iyy="2.7747274432609138953e-08" iyz="0" izz="4.8977394258054644615e-08" />
</inertial>
</link>

<joint name="w2_2_passive" type="revolute">
<origin xyz="-0.00200000000000000221 -0.037499999999999984734 -0.0025000000000000022204" rpy="-0 -1.5707963267948961139 0" />
<parent link="wheel_3" />
<child link="passivewheel_42" />
<axis xyz="0 0 1"/>
<limit effort="1" velocity="20" />
<joint_properties friction="0.0"/>
</joint>

<link name="passivewheel_43">
<!-- Shapes for passivewheel -->
<collision>
<origin xyz="0 1.7347234759768070944e-18 0.0020000000000000004753" rpy="5.5511151231257827021e-17 -0 5.5511151231257814695e-17" />
<geometry>
<cylinder length="0.0030000000000000000625" radius="0.0060000000000000001249" />
</geometry>
</collision>
<!-- Shapes for passivewheel -->
<visual>
<origin xyz="0 1.7347234759768070944e-18 0.0020000000000000004753" rpy="5.5511151231257827021e-17 -0 5.5511151231257814695e-17" />
<geometry>
<cylinder length="0.0030000000000000000625" radius="0.0060000000000000001249" />
</geometry>
<material name="passivewheel_material">
<color rgba="0.30196078431372547213 0.29019607843137257275 0.26274509803921569651 1.0"/>
</material>
</visual>
<inertial>
<origin xyz="1.3144003607491668075e-20 2.1235085602846629368e-18 0.002000000000000000909" rpy="0 0 0"/>
<mass value="0.0028590609658248017193" />
<inertia ixx="2.7747274432609152187e-08" ixy="7.7014157364188999738e-25"  ixz="-4.2751445363913832193e-41" iyy="2.7747274432609152187e-08" iyz="1.5402831472837799948e-24" izz="4.8977394258054644615e-08" />
</inertial>
</link>

<joint name="w2_3_passive" type="revolute">
<origin xyz="0.0096860242564702284107 -0.036282653349818144717 -0.0025000000000000160982" rpy="1.5707963267948947816 -1.3942429024899469781 1.8849555921538736492" />
<parent link="wheel_3" />
<child link="passivewheel_43" />
<axis xyz="0 0 1"/>
<limit effort="1" velocity="20" />
<joint_properties friction="0.0"/>
</joint>

<link name="passivewheel_44">
<!-- Shapes for passivewheel -->
<collision>
<origin xyz="2.7811086766860171387e-17 -2.7079033459997957758e-18 -0.0019999999999999952711" rpy="-3.141592653589793116 2.7755575615628913511e-17 8.3266726846886740532e-17" />
<geometry>
<cylinder length="0.0030000000000000000625" radius="0.0060000000000000001249" />
</geometry>
</collision>
<!-- Shapes for passivewheel -->
<visual>
<origin xyz="2.7811086766860171387e-17 -2.7079033459997957758e-18 -0.0019999999999999952711" rpy="-3.141592653589793116 2.7755575615628913511e-17 8.3266726846886740532e-17" />
<geometry>
<cylinder length="0.0030000000000000000625" radius="0.0060000000000000001249" />
</geometry>
<material name="passivewheel_material">
<color rgba="0.30196078431372547213 0.29019607843137257275 0.26274509803921569651 1.0"/>
</material>
</visual>
<inertial>
<origin xyz="2.7824230770467662009e-17 -3.0966884303076516182e-18 -0.0019999999999999957048" rpy="0 0 0"/>
<mass value="0.0028590609658248017193" />
<inertia ixx="2.7747274432609138953e-08" ixy="3.8507078682094490686e-24"  ixz="-2.1295373434277943191e-24" iyy="2.7747274432609138953e-08" iyz="3.6177475499574987678e-25" izz="4.8977394258054618145e-08" />
</inertial>
</link>

<joint name="w2_4_passive" type="revolute">
<origin xyz="0.020423912972217843353 -0.031513707793645470701 -0.0025000000000000022204" rpy="-1.5707963267948972241 -1.2436334312925123591 2.1991148575128507403" />
<parent link="wheel_3" />
<child link="passivewheel_44" />
<axis xyz="0 0 1"/>
<limit effort="1" velocity="20" />
<joint_properties friction="0.0"/>
</joint>

<link name="passivewheel_45">
<!-- Shapes for passivewheel -->
<collision>
<origin xyz="-1.3766765505351941003e-17 3.3306690738754696906e-19 -0.0020000000000000000416" rpy="-3.141592653589793116 -0 -2.7755575615628913511e-17" />
<geometry>
<cylinder length="0.0030000000000000000625" radius="0.0060000000000000001249" />
</geometry>
</collision>
<!-- Shapes for passivewheel -->
<visual>
<origin xyz="-1.3766765505351941003e-17 3.3306690738754696906e-19 -0.0020000000000000000416" rpy="-3.141592653589793116 -0 -2.7755575615628913511e-17" />
<geometry>
<cylinder length="0.0030000000000000000625" radius="0.0060000000000000001249" />
</geometry>
<material name="passivewheel_material">
<color rgba="0.30196078431372547213 0.29019607843137257275 0.26274509803921569651 1.0"/>
</material>
</visual>
<inertial>
<origin xyz="-1.375362150174444884e-17 -5.571817692030877707e-20 -0.0020000000000000004753" rpy="0 0 0"/>
<mass value="0.0028590609658248017193" />
<inertia ixx="2.7747274432609138953e-08" ixy="-2.3104247209256690738e-24"  ixz="-2.7187915395718101128e-24" iyy="2.7747274432609138953e-08" iyz="-5.0758083241478707161e-24" izz="4.8977394258054644615e-08" />
</inertial>
</link>

<joint name="w2_5_passive" type="revolute">
<origin xyz="0.029162566784475579124 -0.023659980949717641929 -0.0025000000000000022204" rpy="-1.5707963267948972241 -1.1338247319170977612 2.5132741228718300519" />
<parent link="wheel_3" />
<child link="passivewheel_45" />
<axis xyz="0 0 1"/>
<limit effort="1" velocity="20" />
<joint_properties friction="0.0"/>
</joint>

<link name="passivewheel_46">
<!-- Shapes for passivewheel -->
<collision>
<origin xyz="1.3877787807814456755e-17 1.1102230246251565635e-19 -0.0020000000000000000416" rpy="3.141592653589793116 -0 0" />
<geometry>
<cylinder length="0.0030000000000000000625" radius="0.0060000000000000001249" />
</geometry>
</collision>
<!-- Shapes for passivewheel -->
<visual>
<origin xyz="1.3877787807814456755e-17 1.1102230246251565635e-19 -0.0020000000000000000416" rpy="3.141592653589793116 -0 0" />
<geometry>
<cylinder length="0.0030000000000000000625" radius="0.0060000000000000001249" />
</geometry>
<material name="passivewheel_material">
<color rgba="0.30196078431372547213 0.29019607843137257275 0.26274509803921569651 1.0"/>
</material>
</visual>
<inertial>
<origin xyz="1.3890931811421947378e-17 -2.7776278184534008978e-19 -0.0020000000000000004753" rpy="0 0 0"/>
<mass value="0.0028590609658248017193" />
<inertia ixx="2.7747274432609138953e-08" ixy="9.6267696705236208347e-25"  ixz="0" iyy="2.7747274432609132335e-08" iyz="-2.7187915395718101128e-24" izz="4.8977394258054644615e-08" />
</inertial>
</link>

<joint name="w2_6_passive" type="revolute">
<origin xyz="0.035046585372318361795 -0.013490250321650834944 -0.0024999999999999883427" rpy="-1.57079632679489678 -1.0686499387975618713 2.8274333882308106958" />
<parent link="wheel_3" />
<child link="passivewheel_46" />
<axis xyz="0 0 1"/>
<limit effort="1" velocity="20" />
<joint_properties friction="0.0"/>
</joint>

<link name="passivewheel_47">
<!-- Shapes for passivewheel -->
<collision>
<origin xyz="3.9443045261050591092e-34 -6.9388939039072283776e-18 -0.0020000000000000000416" rpy="7.8886090522101180541e-31 -1.3558546808486142595e-31 1.014159159662424555e-31" />
<geometry>
<cylinder length="0.0030000000000000000625" radius="0.0060000000000000001249" />
</geometry>
</collision>
<!-- Shapes for passivewheel -->
<visual>
<origin xyz="3.9443045261050591092e-34 -6.9388939039072283776e-18 -0.0020000000000000000416" rpy="7.8886090522101180541e-31 -1.3558546808486142595e-31 1.014159159662424555e-31" />
<geometry>
<cylinder length="0.0030000000000000000625" radius="0.0060000000000000001249" />
</geometry>
<material name="passivewheel_material">
<color rgba="0.30196078431372547213 0.29019607843137257275 0.26274509803921569651 1.0"/>
</material>
</visual>
<inertial>
<origin xyz="1.3144003607492045738e-20 -6.5501088195993736908e-18 -0.001999999999999999608" rpy="0 0 0"/>
<mass value="0.0028590609658248017193" />
<inertia ixx="2.7747274432609125718e-08" ixy="-1.540283147283945115e-24"  ixz="1.3421215084468257175e-38" iyy="2.7747274432609138953e-08" iyz="1.2229652133880037573e-38" izz="4.8977394258054644615e-08" />
</inertial>
</link>

<joint name="w2_7_passive" type="revolute">
<origin xyz="0.03750000000000001249 -0.0020000000000000000416 -0.0025000000000000160982" rpy="-1.5707963267948947816 -0.39309481042651911453 -3.141592653589793116" />
<parent link="wheel_3" />
<child link="passivewheel_47" />
<axis xyz="0 0 1"/>
<limit effort="1" velocity="20" />
<joint_properties friction="0.0"/>
</joint>

<link name="passivewheel_48">
<!-- Shapes for passivewheel -->
<collision>
<origin xyz="-1.3822276656583198879e-17 -7.4835970753639459039e-18 0.0020000000000000017764" rpy="3.141592653589793116 2.7755575615628919674e-17 4.8572257327350604807e-17" />
<geometry>
<cylinder length="0.0030000000000000000625" radius="0.0060000000000000001249" />
</geometry>
</collision>
<!-- Shapes for passivewheel -->
<visual>
<origin xyz="-1.3822276656583198879e-17 -7.4835970753639459039e-18 0.0020000000000000017764" rpy="3.141592653589793116 2.7755575615628919674e-17 4.8572257327350604807e-17" />
<geometry>
<cylinder length="0.0030000000000000000625" radius="0.0060000000000000001249" />
</geometry>
<material name="passivewheel_material">
<color rgba="0.30196078431372547213 0.29019607843137257275 0.26274509803921569651 1.0"/>
</material>
</visual>
<inertial>
<origin xyz="-1.3809132652975706716e-17 -7.8723821596718021315e-18 0.0020000000000000013427" rpy="0 0 0"/>
<mass value="0.0028590609658248017193" />
<inertia ixx="2.7747274432609132335e-08" ixy="-2.5913261647569995835e-40"  ixz="-2.1295373434277946864e-24" iyy="2.7747274432609138953e-08" iyz="1.1785083922880304853e-24" izz="4.8977394258054644615e-08" />
</inertial>
</link>

<joint name="w2_8_passive" type="revolute">
<origin xyz="0.036282653349818137778 0.0096860242564702145329 -0.0024999999999999883427" rpy="1.570796326794896558 -1.0686499387975689768 -2.8274333882308089194" />
<parent link="wheel_3" />
<child link="passivewheel_48" />
<axis xyz="0 0 1"/>
<limit effort="1" velocity="20" />
<joint_properties friction="0.0"/>
</joint>

<link name="passivewheel_49">
<!-- Shapes for passivewheel -->
<collision>
<origin xyz="-1.1102230246251565635e-19 3.2474023470285826835e-18 -0.0020000000000000074142" rpy="0 -2.7755575615628913511e-17 -2.7755575615628913511e-17" />
<geometry>
<cylinder length="0.0030000000000000000625" radius="0.0060000000000000001249" />
</geometry>
</collision>
<!-- Shapes for passivewheel -->
<visual>
<origin xyz="-1.1102230246251565635e-19 3.2474023470285826835e-18 -0.0020000000000000074142" rpy="0 -2.7755575615628913511e-17 -2.7755575615628913511e-17" />
<geometry>
<cylinder length="0.0030000000000000000625" radius="0.0060000000000000001249" />
</geometry>
<material name="passivewheel_material">
<color rgba="0.30196078431372547213 0.29019607843137257275 0.26274509803921569651 1.0"/>
</material>
</visual>
<inertial>
<origin xyz="-9.7878298855023974736e-20 3.6361874313364389111e-18 -0.0020000000000000069805" rpy="0 0 0"/>
<mass value="0.0028590609658248017193" />
<inertia ixx="2.7747274432609138953e-08" ixy="7.7014157364189008922e-25"  ixz="-1.9486499659299199317e-24" iyy="2.7747274432609138953e-08" iyz="-5.4375830791436194908e-24" izz="4.897739425805463138e-08" />
</inertial>
</link>

<joint name="w2_9_passive" type="revolute">
<origin xyz="0.031513707793645477639 0.020423912972217836415 -0.0025000000000000160982" rpy="-1.570796326794896558 -1.1338247319171015359 -2.5132741228718282755" />
<parent link="wheel_3" />
<child link="passivewheel_49" />
<axis xyz="0 0 1"/>
<limit effort="1" velocity="20" />
<joint_properties friction="0.0"/>
</joint>

<link name="passivewheel_50">
<!-- Shapes for passivewheel -->
<collision>
<origin xyz="1.3877787807814456755e-17 1.0519363158323358319e-17 -0.0020000000000000000416" rpy="-3.141592653589793116 2.7755575615628913511e-17 -2.7755575615628913511e-17" />
<geometry>
<cylinder length="0.0030000000000000000625" radius="0.0060000000000000001249" />
</geometry>
</collision>
<!-- Shapes for passivewheel -->
<visual>
<origin xyz="1.3877787807814456755e-17 1.0519363158323358319e-17 -0.0020000000000000000416" rpy="-3.141592653589793116 2.7755575615628913511e-17 -2.7755575615628913511e-17" />
<geometry>
<cylinder length="0.0030000000000000000625" radius="0.0060000000000000001249" />
</geometry>
<material name="passivewheel_material">
<color rgba="0.30196078431372547213 0.29019607843137257275 0.26274509803921569651 1.0"/>
</material>
</visual>
<inertial>
<origin xyz="1.3890931811421947378e-17 1.0130578074015502092e-17 -0.0020000000000000004753" rpy="0 0 0"/>
<mass value="0.0028590609658248017193" />
<inertia ixx="2.7747274432609138953e-08" ixy="-1.5402831472837796274e-24"  ixz="-7.7014157364188981371e-25" iyy="2.7747274432609132335e-08" iyz="-1.178508392288030669e-24" izz="4.8977394258054644615e-08" />
</inertial>
</link>

<joint name="w2_10_passive" type="revolute">
<origin xyz="0.023659980949717641929 0.029162566784475568715 -0.0025000000000000022204" rpy="-1.570796326794896558 -1.2436334312925130252 -2.1991148575128507403" />
<parent link="wheel_3" />
<child link="passivewheel_50" />
<axis xyz="0 0 1"/>
<limit effort="1" velocity="20" />
<joint_properties friction="0.0"/>
</joint>

<link name="passivewheel_51">
<!-- Shapes for passivewheel -->
<collision>
<origin xyz="-1.3933298959045714632e-17 -7.1609385088322598829e-18 -0.0020000000000000000416" rpy="3.141592653589793116 1.3877787807814456755e-17 2.7755575615628913511e-17" />
<geometry>
<cylinder length="0.0030000000000000000625" radius="0.0060000000000000001249" />
</geometry>
</collision>
<!-- Shapes for passivewheel -->
<visual>
<origin xyz="-1.3933298959045714632e-17 -7.1609385088322598829e-18 -0.0020000000000000000416" rpy="3.141592653589793116 1.3877787807814456755e-17 2.7755575615628913511e-17" />
<geometry>
<cylinder length="0.0030000000000000000625" radius="0.0060000000000000001249" />
</geometry>
<material name="passivewheel_material">
<color rgba="0.30196078431372547213 0.29019607843137257275 0.26274509803921569651 1.0"/>
</material>
</visual>
<inertial>
<origin xyz="-1.3920154955438224009e-17 -7.5497235931401161106e-18 -0.0020000000000000004753" rpy="0 0 0"/>
<mass value="0.0028590609658248017193" />
<inertia ixx="2.7747274432609138953e-08" ixy="7.7014157364188999738e-25"  ixz="9.7432498296495996585e-25" iyy="2.7747274432609138953e-08" iyz="5.4375830791436194908e-24" izz="4.897739425805463138e-08" />
</inertial>
</link>

<joint name="w2_11_passive" type="revolute">
<origin xyz="0.013490250321650854026 0.035046585372318354856 -0.0024999999999999883427" rpy="-1.5707963267948956698 -1.3942429024899476442 -1.8849555921538738712" />
<parent link="wheel_3" />
<child link="passivewheel_51" />
<axis xyz="0 0 1"/>
<limit effort="1" velocity="20" />
<joint_properties friction="0.0"/>
</joint>

<link name="passivewheel_52">
<!-- Shapes for passivewheel -->
<collision>
<origin xyz="-3.9466641416538033013e-35 0 -0.0020000000000000000416" rpy="3.141592653589793116 -1.3044059530804947457e-32 0" />
<geometry>
<cylinder length="0.0030000000000000000625" radius="0.0060000000000000001249" />
</geometry>
</collision>
<!-- Shapes for passivewheel -->
<visual>
<origin xyz="-3.9466641416538033013e-35 0 -0.0020000000000000000416" rpy="3.141592653589793116 -1.3044059530804947457e-32 0" />
<geometry>
<cylinder length="0.0030000000000000000625" radius="0.0060000000000000001249" />
</geometry>
<material name="passivewheel_material">
<color rgba="0.30196078431372547213 0.29019607843137257275 0.26274509803921569651 1.0"/>
</material>
</visual>
<inertial>
<origin xyz="1.3144003607491636478e-20 -3.8878508430785584243e-19 -0.0020000000000000004753" rpy="0 0 0"/>
<mass value="0.0028590609658248017193" />
<inertia ixx="2.7747274432609138953e-08" ixy="0"  ixz="1.328423727866061323e-39" iyy="2.7747274432609138953e-08" iyz="0" izz="4.8977394258054644615e-08" />
</inertial>
</link>

<joint name="w2_12_passive" type="revolute">
<origin xyz="0.002000000000000011751 0.037499999999999991673 -0.0025000000000000022204" rpy="3.141592653589793116 -1.570796326794896336 0" />
<parent link="wheel_3" />
<child link="passivewheel_52" />
<axis xyz="0 0 1"/>
<limit effort="1" velocity="20" />
<joint_properties friction="0.0"/>
</joint>

<link name="passivewheel_53">
<!-- Shapes for passivewheel -->
<collision>
<origin xyz="-1.3891665595622269684e-17 1.3988810110276972508e-17 -0.0020000000000000035111" rpy="-3.141592653589793116 -0 0" />
<geometry>
<cylinder length="0.0030000000000000000625" radius="0.0060000000000000001249" />
</geometry>
</collision>
<!-- Shapes for passivewheel -->
<visual>
<origin xyz="-1.3891665595622269684e-17 1.3988810110276972508e-17 -0.0020000000000000035111" rpy="-3.141592653589793116 -0 0" />
<geometry>
<cylinder length="0.0030000000000000000625" radius="0.0060000000000000001249" />
</geometry>
<material name="passivewheel_material">
<color rgba="0.30196078431372547213 0.29019607843137257275 0.26274509803921569651 1.0"/>
</material>
</visual>
<inertial>
<origin xyz="-1.3878521592014779061e-17 1.360002502596911474e-17 -0.0020000000000000039448" rpy="0 0 0"/>
<mass value="0.0028590609658248017193" />
<inertia ixx="2.7747274432609138953e-08" ixy="1.5402831472837794438e-24"  ixz="3.3984894244647635593e-25" iyy="2.7747274432609132335e-08" iyz="-1.178508392288030669e-24" izz="4.8977394258054644615e-08" />
</inertial>
</link>

<joint name="w2_13_passive" type="revolute">
<origin xyz="-0.0096860242564702023899 0.036282653349818151656 -0.0025000000000000022204" rpy="1.5707963267948961139 -1.3942429024899476442 1.8849555921538740932" />
<parent link="wheel_3" />
<child link="passivewheel_53" />
<axis xyz="0 0 1"/>
<limit effort="1" velocity="20" />
<joint_properties friction="0.0"/>
</joint>

<link name="passivewheel_54">
<!-- Shapes for passivewheel -->
<collision>
<origin xyz="1.3822276656583198879e-17 2.2204460492503131271e-19 -0.0020000000000000048121" rpy="1.1102230246251562939e-16 2.7755575615628919674e-17 0" />
<geometry>
<cylinder length="0.0030000000000000000625" radius="0.0060000000000000001249" />
</geometry>
</collision>
<!-- Shapes for passivewheel -->
<visual>
<origin xyz="1.3822276656583198879e-17 2.2204460492503131271e-19 -0.0020000000000000048121" rpy="1.1102230246251562939e-16 2.7755575615628919674e-17 0" />
<geometry>
<cylinder length="0.0030000000000000000625" radius="0.0060000000000000001249" />
</geometry>
<material name="passivewheel_material">
<color rgba="0.30196078431372547213 0.29019607843137257275 0.26274509803921569651 1.0"/>
</material>
</visual>
<inertial>
<origin xyz="1.3835420660190691042e-17 6.1082968923288715513e-19 -0.0020000000000000043784" rpy="0 0 0"/>
<mass value="0.0028590609658248017193" />
<inertia ixx="2.7747274432609132335e-08" ixy="-1.5402831472837798111e-24"  ixz="-2.1295373434277954211e-24" iyy="2.7747274432609138953e-08" iyz="8.518149373711180215e-24" izz="4.8977394258054671085e-08" />
</inertial>
</link>

<joint name="w2_14_passive" type="revolute">
<origin xyz="-0.020423912972217812128 0.031513707793645477639 -0.0025000000000000022204" rpy="1.57079632679489678 -1.2436334312925132473 2.1991148575128502962" />
<parent link="wheel_3" />
<child link="passivewheel_54" />
<axis xyz="0 0 1"/>
<limit effort="1" velocity="20" />
<joint_properties friction="0.0"/>
</joint>

<link name="passivewheel_55">
<!-- Shapes for passivewheel -->
<collision>
<origin xyz="1.3822276656583198879e-17 -1.3877787807814456755e-17 -0.0019999999999999987406" rpy="0 2.7755575615628919674e-17 2.7755575615628919674e-17" />
<geometry>
<cylinder length="0.0030000000000000000625" radius="0.0060000000000000001249" />
</geometry>
</collision>
<!-- Shapes for passivewheel -->
<visual>
<origin xyz="1.3822276656583198879e-17 -1.3877787807814456755e-17 -0.0019999999999999987406" rpy="0 2.7755575615628919674e-17 2.7755575615628919674e-17" />
<geometry>
<cylinder length="0.0030000000000000000625" radius="0.0060000000000000001249" />
</geometry>
<material name="passivewheel_material">
<color rgba="0.30196078431372547213 0.29019607843137257275 0.26274509803921569651 1.0"/>
</material>
</visual>
<inertial>
<origin xyz="1.3835420660190691042e-17 -1.3489002723506598987e-17 -0.0019999999999999983069" rpy="0 0 0"/>
<mass value="0.0028590609658248017193" />
<inertia ixx="2.7747274432609132335e-08" ixy="0"  ixz="-2.1295373434277946864e-24" iyy="2.7747274432609132335e-08" iyz="-2.1375722681956916097e-41" izz="4.897739425805463138e-08" />
</inertial>
</link>

<joint name="w2_15_passive" type="revolute">
<origin xyz="-0.029162566784475568715 0.023659980949717641929 -0.0025000000000000022204" rpy="1.570796326794896336 -1.1338247319170990934 2.5132741228718296078" />
<parent link="wheel_3" />
<child link="passivewheel_55" />
<axis xyz="0 0 1"/>
<limit effort="1" velocity="20" />
<joint_properties friction="0.0"/>
</joint>

<link name="passivewheel_56">
<!-- Shapes for passivewheel -->
<collision>
<origin xyz="-6.9388939039072283776e-18 1.365574320288942525e-17 -0.0020000000000000000416" rpy="-5.5511151231257827021e-17 -0 1.3877787807814456755e-17" />
<geometry>
<cylinder length="0.0030000000000000000625" radius="0.0060000000000000001249" />
</geometry>
</collision>
<!-- Shapes for passivewheel -->
<visual>
<origin xyz="-6.9388939039072283776e-18 1.365574320288942525e-17 -0.0020000000000000000416" rpy="-5.5511151231257827021e-17 -0 1.3877787807814456755e-17" />
<geometry>
<cylinder length="0.0030000000000000000625" radius="0.0060000000000000001249" />
</geometry>
<material name="passivewheel_material">
<color rgba="0.30196078431372547213 0.29019607843137257275 0.26274509803921569651 1.0"/>
</material>
</visual>
<inertial>
<origin xyz="-6.9257499002997362145e-18 1.4044528287197281478e-17 -0.001999999999999999608" rpy="0 0 0"/>
<mass value="0.0028590609658248017193" />
<inertia ixx="2.7747274432609138953e-08" ixy="9.183549615799121156e-41"  ixz="2.1375722681956916097e-41" iyy="2.7747274432609125718e-08" iyz="-6.9778662264273991182e-24" izz="4.8977394258054644615e-08" />
</inertial>
</link>

<joint name="w2_16_passive" type="revolute">
<origin xyz="-0.035046585372318361795 0.013490250321650847087 -0.0025000000000000160982" rpy="1.57079632679489678 -1.06864993879756498 2.8274333882308102517" />
<parent link="wheel_3" />
<child link="passivewheel_56" />
<axis xyz="0 0 1"/>
<limit effort="1" velocity="20" />
<joint_properties friction="0.0"/>
</joint>

<link name="passivewheel_57">
<!-- Shapes for passivewheel -->
<collision>
<origin xyz="4.336808689942019662e-19 9.8607613152626477729e-35 0.0020000000000000000416" rpy="3.141592653589793116 4.9303806576313237838e-32 5.5511151231257728414e-17" />
<geometry>
<cylinder length="0.0030000000000000000625" radius="0.0060000000000000001249" />
</geometry>
</collision>
<!-- Shapes for passivewheel -->
<visual>
<origin xyz="4.336808689942019662e-19 9.8607613152626477729e-35 0.0020000000000000000416" rpy="3.141592653589793116 4.9303806576313237838e-32 5.5511151231257728414e-17" />
<geometry>
<cylinder length="0.0030000000000000000625" radius="0.0060000000000000001249" />
</geometry>
<material name="passivewheel_material">
<color rgba="0.30196078431372547213 0.29019607843137257275 0.26274509803921569651 1.0"/>
</material>
</visual>
<inertial>
<origin xyz="4.4682487260169364781e-19 -3.8878508430785569798e-19 0.001999999999999999608" rpy="0 0 0"/>
<mass value="0.0028590609658248017193" />
<inertia ixx="2.7747274432609138953e-08" ixy="3.080566294567535745e-24"  ixz="-6.1975901978671648852e-39" iyy="2.7747274432609132335e-08" iyz="-2.4147719731109608012e-39" izz="4.8977394258054644615e-08" />
</inertial>
</link>

<joint name="w2_17_passive" type="revolute">
<origin xyz="-0.037499999999999998612 0.0020000000000000139194 -0.0025000000000000022204" rpy="-1.5707963267948972241 -0.39309481042651972516 -3.141592653589793116" />
<parent link="wheel_3" />
<child link="passivewheel_57" />
<axis xyz="0 0 1"/>
<limit effort="1" velocity="20" />
<joint_properties friction="0.0"/>
</joint>

<link name="passivewheel_58">
<!-- Shapes for passivewheel -->
<collision>
<origin xyz="0 -1.1102230246251565635e-19 -0.0020000000000000000416" rpy="3.141592653589793116 -2.7755575615628913511e-17 -4.8572257327350598644e-17" />
<geometry>
<cylinder length="0.0030000000000000000625" radius="0.0060000000000000001249" />
</geometry>
</collision>
<!-- Shapes for passivewheel -->
<visual>
<origin xyz="0 -1.1102230246251565635e-19 -0.0020000000000000000416" rpy="3.141592653589793116 -2.7755575615628913511e-17 -4.8572257327350598644e-17" />
<geometry>
<cylinder length="0.0030000000000000000625" radius="0.0060000000000000001249" />
</geometry>
<material name="passivewheel_material">
<color rgba="0.30196078431372547213 0.29019607843137257275 0.26274509803921569651 1.0"/>
</material>
</visual>
<inertial>
<origin xyz="1.3144003607491684626e-20 -4.9980738677037149878e-19 -0.0020000000000000004753" rpy="0 0 0"/>
<mass value="0.0028590609658248017193" />
<inertia ixx="2.7747274432609138953e-08" ixy="-1.9253539341047245343e-24"  ixz="7.7014157364188981371e-25" iyy="2.7747274432609132335e-08" iyz="1.178508392288030669e-24" izz="4.8977394258054644615e-08" />
</inertial>
</link>

<joint name="w2_18_passive" type="revolute">
<origin xyz="-0.0362826533498181239 -0.0096860242564702110635 -0.0024999999999999883427" rpy="1.57079632679489678 -1.0686499387975578745 -2.8274333882308093635" />
<parent link="wheel_3" />
<child link="passivewheel_58" />
<axis xyz="0 0 1"/>
<limit effort="1" velocity="20" />
<joint_properties friction="0.0"/>
</joint>

<link name="passivewheel_59">
<!-- Shapes for passivewheel -->
<collision>
<origin xyz="-1.3877787807814456755e-17 1.3877787807814456755e-17 -0.0020000000000000052458" rpy="3.141592653589793116 -2.7755575615628913511e-17 2.7755575615628913511e-17" />
<geometry>
<cylinder length="0.0030000000000000000625" radius="0.0060000000000000001249" />
</geometry>
</collision>
<!-- Shapes for passivewheel -->
<visual>
<origin xyz="-1.3877787807814456755e-17 1.3877787807814456755e-17 -0.0020000000000000052458" rpy="3.141592653589793116 -2.7755575615628913511e-17 2.7755575615628913511e-17" />
<geometry>
<cylinder length="0.0030000000000000000625" radius="0.0060000000000000001249" />
</geometry>
<material name="passivewheel_material">
<color rgba="0.30196078431372547213 0.29019607843137257275 0.26274509803921569651 1.0"/>
</material>
</visual>
<inertial>
<origin xyz="-1.3864643804206964592e-17 1.3489002723506598987e-17 -0.0020000000000000056795" rpy="0 0 0"/>
<mass value="0.0028590609658248017193" />
<inertia ixx="2.7747274432609138953e-08" ixy="2.3104247209256694411e-24"  ixz="7.7014157364188972188e-25" iyy="2.7747274432609138953e-08" iyz="-1.5402831472837796274e-24" izz="4.8977394258054644615e-08" />
</inertial>
</link>

<joint name="w2_19_passive" type="revolute">
<origin xyz="-0.031513707793645477639 -0.020423912972217826006 -0.0024999999999999883427" rpy="1.5707963267948970021 -1.1338247319170962069 -2.5132741228718282755" />
<parent link="wheel_3" />
<child link="passivewheel_59" />
<axis xyz="0 0 1"/>
<limit effort="1" velocity="20" />
<joint_properties friction="0.0"/>
</joint>

<link name="passivewheel_60">
<!-- Shapes for passivewheel -->
<collision>
<origin xyz="-2.7811086766860171387e-17 1.3766765505351941003e-17 -0.0020000000000000017764" rpy="3.141592653589793116 2.7755575615628913511e-17 -8.3266726846886740532e-17" />
<geometry>
<cylinder length="0.0030000000000000000625" radius="0.0060000000000000001249" />
</geometry>
</collision>
<!-- Shapes for passivewheel -->
<visual>
<origin xyz="-2.7811086766860171387e-17 1.3766765505351941003e-17 -0.0020000000000000017764" rpy="3.141592653589793116 2.7755575615628913511e-17 -8.3266726846886740532e-17" />
<geometry>
<cylinder length="0.0030000000000000000625" radius="0.0060000000000000001249" />
</geometry>
<material name="passivewheel_material">
<color rgba="0.30196078431372547213 0.29019607843137257275 0.26274509803921569651 1.0"/>
</material>
</visual>
<inertial>
<origin xyz="-2.7797942763252680765e-17 1.3377980421044083234e-17 -0.00200000000000000221" rpy="0 0 0"/>
<mass value="0.0028590609658248017193" />
<inertia ixx="2.7747274432609138953e-08" ixy="-2.3104247209256694411e-24"  ixz="5.8925419614401524266e-25" iyy="2.7747274432609138953e-08" iyz="2.7187915395718101128e-24" izz="4.8977394258054644615e-08" />
</inertial>
</link>

<joint name="w2_20_passive" type="revolute">
<origin xyz="-0.023659980949717645399 -0.029162566784475568715 -0.0025000000000000160982" rpy="1.5707963267948972241 -1.2436334312925112489 -2.1991148575128480758" />
<parent link="wheel_3" />
<child link="passivewheel_60" />
<axis xyz="0 0 1"/>
<limit effort="1" velocity="20" />
<joint_properties friction="0.0"/>
</joint>

<joint name="wheel2_speed" type="revolute">
<origin xyz="-6.5919492087118669588e-17 0.080000000000000182077 0.013000000000000034098" rpy="1.570796326794896558 -0 6.1062266354383451951e-16" />
<parent link="body" />
<child link="wheel_3" />
<axis xyz="0 0 1"/>
<limit effort="1" velocity="20" />
<joint_properties friction="0.0"/>
</joint>


</robot>
